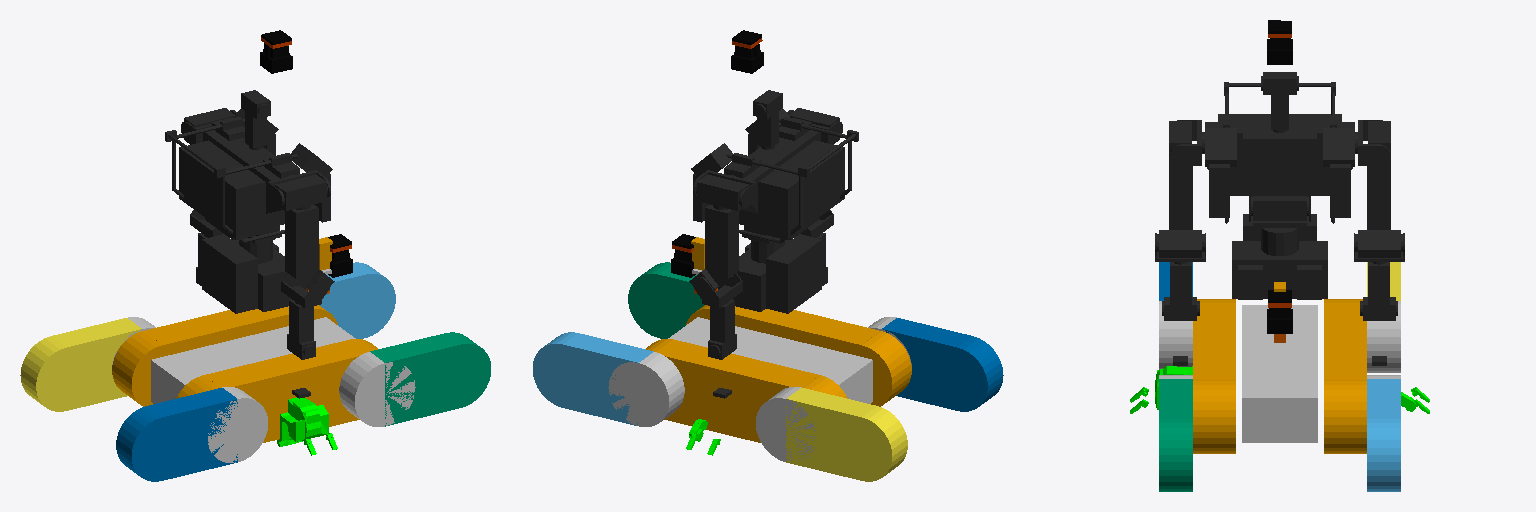
--- Render facts (derived) ---
Views: 3 orthographic renders of the robot side by side, from view 1: azimuth 30°, elevation 25°; view 2: azimuth 150°, elevation 25°; view 3: azimuth 270°, elevation 25°.
Robot: centaur — 49 links, 48 joints (28 revolute, 1 continuous, 19 fixed); root link base_link; default pose: every joint at zero.
Visible links, largest first — view 1: base_link, utorso, right_rear_flipper_base_link, right_front_flipper_base_link, left_rear_flipper_base_link, pelvis, left_front_flipper_base_link, r_arm_shoulder_yaw, r_palm, r_arm_wrist_yaw, neck_link, r_arm_shoulder_roll (+4 smaller); view 2: base_link, utorso, left_rear_flipper_base_link, left_front_flipper_base_link, right_rear_flipper_base_link, pelvis, right_front_flipper_base_link, l_arm_shoulder_yaw, l_arm_wrist_yaw, neck_link, l_arm_shoulder_roll, head_link_hokuyo_laser_frame (+3 smaller); view 3: base_link, utorso, pelvis, left_front_flipper_base_link, right_front_flipper_base_link, l_arm_shoulder_yaw, r_arm_shoulder_yaw, left_rear_flipper_base_link, right_rear_flipper_base_link, waist, l_arm_wrist_yaw, r_arm_wrist_yaw (+7 smaller).
Boxes of the visible links, <box> form: base_link: <box>112,305,377,442</box>; utorso: <box>165,108,332,242</box>; right_rear_flipper_base_link: <box>116,387,267,481</box>; right_front_flipper_base_link: <box>339,332,490,426</box>; left_rear_flipper_base_link: <box>20,317,155,411</box>; pelvis: <box>202,234,305,313</box>; left_front_flipper_base_link: <box>320,262,395,338</box>; r_arm_shoulder_yaw: <box>285,205,334,290</box>; r_palm: <box>277,397,328,446</box>; r_arm_wrist_yaw: <box>287,299,315,359</box>; neck_link: <box>241,90,270,149</box>; r_arm_shoulder_roll: <box>275,174,327,210</box>; base_link: <box>646,305,911,442</box>; utorso: <box>691,108,858,242</box>; left_rear_flipper_base_link: <box>756,387,907,481</box>; left_front_flipper_base_link: <box>533,332,684,426</box>; right_rear_flipper_base_link: <box>868,317,1003,411</box>; pelvis: <box>718,234,821,313</box>; right_front_flipper_base_link: <box>628,262,703,338</box>; l_arm_shoulder_yaw: <box>689,205,738,290</box>; l_arm_wrist_yaw: <box>708,299,736,359</box>; neck_link: <box>753,90,782,149</box>; l_arm_shoulder_roll: <box>696,174,748,210</box>; head_link_hokuyo_laser_frame: <box>731,30,763,73</box>; base_link: <box>1193,299,1366,453</box>; utorso: <box>1205,82,1354,223</box>; pelvis: <box>1232,214,1327,299</box>; left_front_flipper_base_link: <box>1367,375,1400,491</box>; right_front_flipper_base_link: <box>1159,375,1192,491</box>; l_arm_shoulder_yaw: <box>1355,164,1402,257</box>; r_arm_shoulder_yaw: <box>1157,164,1204,257</box>; left_rear_flipper_base_link: <box>1367,262,1400,372</box>; right_rear_flipper_base_link: <box>1159,262,1192,369</box>; waist: <box>1251,196,1308,227</box>; l_arm_wrist_yaw: <box>1360,262,1397,320</box>; r_arm_wrist_yaw: <box>1162,262,1199,320</box>.
Size in the robot's own frame: 1.07 by 0.7096 by 1.06 metres.
Meshes: 24 distinct files referenced, 22 mesh visuals loaded (15 binary STL, 1 Collada DAE); not drawn: 10 (reference not matched to a file when rendering).

URDF robot description (centaur):
<?xml version="1.0" ?>
<!-- =================================================================================== -->
<!-- |    This document was autogenerated by xacro from [local-path]/hammering_test/src/hector_centaur/hector_centaur_description/robots/centaur_default.urdf.xacro | -->
<!-- |    EDITING THIS FILE BY HAND IS NOT RECOMMENDED                                 | -->
<!-- =================================================================================== -->
<robot name="centaur" xmlns:xacro="http://www.ros.org/wiki/xacro">
  <!-- Included URDF Files -->
  <!-- Included URDF Files -->
  <!-- Properties (Constants) -->
  <!--<xacro:property name="wheel_radius" value="0.185" />-->
  <!--<xacro:property name="wheel_size_y" value="0.0824" />-->
  <!-- half of wheel width + half of socket width + gap -->
  <!-- wheel_radius - socket height -->
  <!-- Properties (Constants) -->
  <!--    <xacro:property name="wheel_offset_y" value="${(total_width - wheel_size_y) / 2}" />-->
  <!--
  Note macros below are exact copies of each with expection of the
  visual/collision tags.
  -->
  <!-- Links and Joints (i.e., the robot) -->
  <link name="base_link">
    <inertial>
      <origin rpy="0 0 0" xyz="0 0.0 0.0"/>
      <mass value="40"/>
      <inertia ixx="0.154413333333" ixy="0.0" ixz="0.0" iyy="0.947746666667" iyz="0.0" izz="1.00933333333"/>
    </inertial>
    <visual>
      <origin rpy="0 0 0" xyz="0.0 0.0 0.0"/>
      <geometry>
        <box size="0.52 0.18 0.118"/>
      </geometry>
      <geometry>
        <box size="0.52 0.18 0.118"/>
      </geometry>
      <material name="Grey">
        <color rgba="0.8 0.8 0.8 1"/>
      </material>
    </visual>
    <visual>
      <origin rpy="1.57079632679 0 0" xyz="0.218 0.155 -0.006"/>
      <geometry>
        <cylinder length="0.1" radius="0.09"/>
      </geometry>
    </visual>
    <visual>
      <origin rpy="1.57079632679 0 0" xyz="-0.218 0.155 -0.006"/>
      <geometry>
        <cylinder length="0.1" radius="0.09"/>
      </geometry>
    </visual>
    <visual>
      <origin rpy="0 0 0" xyz="0.0 0.155 -0.006"/>
      <geometry>
        <box size="0.43 0.1 0.18"/>
      </geometry>
    </visual>
    <visual>
      <origin rpy="1.57079632679 0 0" xyz="0.218 -0.155 -0.006"/>
      <geometry>
        <cylinder length="0.1" radius="0.09"/>
      </geometry>
    </visual>
    <visual>
      <origin rpy="1.57079632679 0 0" xyz="-0.218 -0.155 -0.006"/>
      <geometry>
        <cylinder length="0.1" radius="0.09"/>
      </geometry>
    </visual>
    <visual>
      <origin rpy="0 0 0" xyz="0.0 -0.155 -0.006"/>
      <geometry>
        <box size="0.43 0.1 0.18"/>
      </geometry>
    </visual>
    <collision>
      <origin rpy="0 0 0" xyz="0.0 0.0 0.0"/>
      <geometry>
        <box size="0.52 0.18 0.118"/>
      </geometry>
      <geometry>
        <box size="0.52 0.18 0.118"/>
      </geometry>
    </collision>
    <collision>
      <origin rpy="1.57079632679 0 0" xyz="0.218 0.155 -0.006"/>
      <geometry>
        <cylinder length="0.1" radius="0.09"/>
      </geometry>
    </collision>
    <collision>
      <origin rpy="1.57079632679 0 0" xyz="-0.218 0.155 -0.006"/>
      <geometry>
        <cylinder length="0.1" radius="0.09"/>
      </geometry>
    </collision>
    <collision>
      <origin rpy="0 0 0" xyz="0.0 0.155 -0.006"/>
      <geometry>
        <box size="0.43 0.1 0.18"/>
      </geometry>
    </collision>
    <collision>
      <origin rpy="1.57079632679 0 0" xyz="0.218 -0.155 -0.006"/>
      <geometry>
        <cylinder length="0.1" radius="0.09"/>
      </geometry>
    </collision>
    <collision>
      <origin rpy="1.57079632679 0 0" xyz="-0.218 -0.155 -0.006"/>
      <geometry>
        <cylinder length="0.1" radius="0.09"/>
      </geometry>
    </collision>
    <collision>
      <origin rpy="0 0 0" xyz="0.0 -0.155 -0.006"/>
      <geometry>
        <box size="0.43 0.1 0.18"/>
      </geometry>
    </collision>
  </link>
  <!--
  Note macros below are exact copies of each with expection of the
  visual/collision tags.
  -->
  <!-- use for 2*2 flippers -->
  <!-- front is either 1 (for front flipper) or -1 (for back flipper) -->
  <!-- <joint name="${parent}_${name}_flipper_joint" type="fixed">   -->
  <joint name="front_flipper_joint" type="revolute">
    <origin rpy="0 0 0" xyz="0.218  0.245  0 "/>
    <axis xyz="0 1 0"/>
    <limit effort="20000" lower="-1.57079632679" upper="1.57079632679" velocity="1.91986217719"/>
    <parent link="base_link"/>
    <child link="left_front_flipper_base_link"/>
  </joint>
  <link name="left_front_flipper_base_link">
    <origin rpy="0 0 0" xyz="0 0 0"/>
    <inertial>
      <origin rpy="0 0 0" xyz="0.1125 0 0"/>
      <mass value="3"/>
      <inertia ixx="0.0097" ixy="0.0" ixz="0.0" iyy="0.02075625" iyz="0.0" izz="0.01425625"/>
    </inertial>
    <visual>
      <material name="Grey">
        <color rgba="0.8 0.8 0.8 1"/>
      </material>
      <origin rpy="1.57079632679 0 0" xyz="0 0 0"/>
      <geometry>
        <cylinder length="0.08" radius="0.09"/>
      </geometry>
    </visual>
    <visual>
      <origin rpy="1.57079632679 0 0" xyz="0.225 0 0"/>
      <geometry>
        <cylinder length="0.08" radius="0.09"/>
      </geometry>
    </visual>
    <visual>
      <origin rpy="0 0 0" xyz="0.1125 0 0"/>
      <geometry>
        <box size="0.225 0.08 0.18"/>
      </geometry>
    </visual>
    <collision>
      <origin rpy="1.57079632679 0 0" xyz="0 0 0"/>
      <geometry>
        <cylinder length="0.08" radius="0.09"/>
      </geometry>
    </collision>
    <collision>
      <origin rpy="1.57079632679 0 0" xyz="0.225 0 0"/>
      <geometry>
        <cylinder length="0.08" radius="0.09"/>
      </geometry>
    </collision>
    <collision>
      <origin rpy="0 0 0" xyz="0.1125 0 0"/>
      <geometry>
        <box size="0.225 0.08 0.18"/>
      </geometry>
    </collision>
  </link>
  <joint name="right_front_flipper_joint" type="fixed">
    <origin rpy="0 0 0" xyz="0 -0.49 0"/>
    <parent link="left_front_flipper_base_link"/>
    <child link="right_front_flipper_base_link"/>
  </joint>
  <link name="right_front_flipper_base_link">
    <origin rpy="0 0 0" xyz="0 0 0"/>
    <inertial>
      <origin rpy="0 0 0" xyz="0.1125 0 0"/>
      <mass value="3"/>
      <inertia ixx="0.0097" ixy="0.0" ixz="0.0" iyy="0.02075625" iyz="0.0" izz="0.01425625"/>
    </inertial>
    <visual>
      <material name="Grey">
        <color rgba="0.8 0.8 0.8 1"/>
      </material>
      <origin rpy="1.57079632679 0 0" xyz="0 0 0"/>
      <geometry>
        <cylinder length="0.08" radius="0.09"/>
      </geometry>
    </visual>
    <visual>
      <origin rpy="1.57079632679 0 0" xyz="0.225 0 0"/>
      <geometry>
        <cylinder length="0.08" radius="0.09"/>
      </geometry>
    </visual>
    <visual>
      <origin rpy="0 0 0" xyz="0.1125 0 0"/>
      <geometry>
        <box size="0.225 0.08 0.18"/>
      </geometry>
    </visual>
    <collision>
      <origin rpy="1.57079632679 0 0" xyz="0 0 0"/>
      <geometry>
        <cylinder length="0.08" radius="0.09"/>
      </geometry>
    </collision>
    <collision>
      <origin rpy="1.57079632679 0 0" xyz="0.225 0 0"/>
      <geometry>
        <cylinder length="0.08" radius="0.09"/>
      </geometry>
    </collision>
    <collision>
      <origin rpy="0 0 0" xyz="0.1125 0 0"/>
      <geometry>
        <box size="0.225 0.08 0.18"/>
      </geometry>
    </collision>
  </link>
  <!--Needed for gazebo-->
  <transmission name="front_flipper_joint_transmission">
    <type>transmission_interface/SimpleTransmission</type>
    <joint name="front_flipper_joint">
      <hardwareInterface>EffortJointInterface</hardwareInterface>
    </joint>
    <actuator name="front_flipper_joint_motor">
      <hardwareInterface>EffortJointInterface</hardwareInterface>
      <mechanicalReduction>1</mechanicalReduction>
    </actuator>
  </transmission>
  <gazebo reference="front_left_flipper_base_link">
    <!--<material>Gazebo/Grey</material>-->
    <mu1>0</mu1>
    <mu2>0</mu2>
    <kp>1000000.0</kp>
    <kd>100.0</kd>
    <minDepth>0.001</minDepth>
    <maxVel>1.0</maxVel>
    <maxContacts>1</maxContacts>
  </gazebo>
  <gazebo reference="front_right_flipper_base_link">
    <!--<material>Gazebo/Grey</material>-->
    <mu1>0</mu1>
    <mu2>0</mu2>
    <kp>1000000.0</kp>
    <kd>100.0</kd>
    <minDepth>0.001</minDepth>
    <maxVel>1.0</maxVel>
    <maxContacts>1</maxContacts>
  </gazebo>
  <!-- front is either 1 (for front flipper) or -1 (for back flipper) -->
  <!-- <joint name="${parent}_${name}_flipper_joint" type="fixed">   -->
  <joint name="rear_flipper_joint" type="revolute">
    <origin rpy="0 0 0" xyz="-0.218  0.245  0  "/>
    <axis xyz="0 1 0"/>
    <limit effort="20000" lower="-1.57079632679" upper="1.57079632679" velocity="1.91986217719"/>
    <parent link="base_link"/>
    <child link="left_rear_flipper_base_link"/>
  </joint>
  <link name="left_rear_flipper_base_link">
    <origin rpy="0 0 0" xyz="0 0 0"/>
    <inertial>
      <origin rpy="0 0 0" xyz="-0.1125 0 0"/>
      <mass value="3"/>
      <inertia ixx="0.0097" ixy="0.0" ixz="0.0" iyy="0.02075625" iyz="0.0" izz="0.01425625"/>
    </inertial>
    <visual>
      <material name="Grey">
        <color rgba="0.8 0.8 0.8 1"/>
      </material>
      <origin rpy="1.57079632679 0 0" xyz="0 0 0"/>
      <geometry>
        <cylinder length="0.08" radius="0.09"/>
      </geometry>
    </visual>
    <visual>
      <origin rpy="1.57079632679 0 0" xyz="-0.225 0 0"/>
      <geometry>
        <cylinder length="0.08" radius="0.09"/>
      </geometry>
    </visual>
    <visual>
      <origin rpy="0 0 0" xyz="-0.1125 0 0"/>
      <geometry>
        <box size="0.225 0.08 0.18"/>
      </geometry>
    </visual>
    <collision>
      <origin rpy="1.57079632679 0 0" xyz="0 0 0"/>
      <geometry>
        <cylinder length="0.08" radius="0.09"/>
      </geometry>
    </collision>
    <collision>
      <origin rpy="1.57079632679 0 0" xyz="-0.225 0 0"/>
      <geometry>
        <cylinder length="0.08" radius="0.09"/>
      </geometry>
    </collision>
    <collision>
      <origin rpy="0 0 0" xyz="-0.1125 0 0"/>
      <geometry>
        <box size="0.225 0.08 0.18"/>
      </geometry>
    </collision>
  </link>
  <joint name="right_rear_flipper_joint" type="fixed">
    <origin rpy="0 0 0" xyz="0 -0.49 0"/>
    <parent link="left_rear_flipper_base_link"/>
    <child link="right_rear_flipper_base_link"/>
  </joint>
  <link name="right_rear_flipper_base_link">
    <origin rpy="0 0 0" xyz="0 0 0"/>
    <inertial>
      <origin rpy="0 0 0" xyz="-0.1125 0 0"/>
      <mass value="3"/>
      <inertia ixx="0.0097" ixy="0.0" ixz="0.0" iyy="0.02075625" iyz="0.0" izz="0.01425625"/>
    </inertial>
    <visual>
      <material name="Grey">
        <color rgba="0.8 0.8 0.8 1"/>
      </material>
      <origin rpy="1.57079632679 0 0" xyz="0 0 0"/>
      <geometry>
        <cylinder length="0.08" radius="0.09"/>
      </geometry>
    </visual>
    <visual>
      <origin rpy="1.57079632679 0 0" xyz="-0.225 0 0"/>
      <geometry>
        <cylinder length="0.08" radius="0.09"/>
      </geometry>
    </visual>
    <visual>
      <origin rpy="0 0 0" xyz="-0.1125 0 0"/>
      <geometry>
        <box size="0.225 0.08 0.18"/>
      </geometry>
    </visual>
    <collision>
      <origin rpy="1.57079632679 0 0" xyz="0 0 0"/>
      <geometry>
        <cylinder length="0.08" radius="0.09"/>
      </geometry>
    </collision>
    <collision>
      <origin rpy="1.57079632679 0 0" xyz="-0.225 0 0"/>
      <geometry>
        <cylinder length="0.08" radius="0.09"/>
      </geometry>
    </collision>
    <collision>
      <origin rpy="0 0 0" xyz="-0.1125 0 0"/>
      <geometry>
        <box size="0.225 0.08 0.18"/>
      </geometry>
    </collision>
  </link>
  <!--Needed for gazebo-->
  <transmission name="rear_flipper_joint_transmission">
    <type>transmission_interface/SimpleTransmission</type>
    <joint name="rear_flipper_joint">
      <hardwareInterface>EffortJointInterface</hardwareInterface>
    </joint>
    <actuator name="rear_flipper_joint_motor">
      <hardwareInterface>EffortJointInterface</hardwareInterface>
      <mechanicalReduction>1</mechanicalReduction>
    </actuator>
  </transmission>
  <gazebo reference="rear_left_flipper_base_link">
    <!--<material>Gazebo/Grey</material>-->
    <mu1>0</mu1>
    <mu2>0</mu2>
    <kp>1000000.0</kp>
    <kd>100.0</kd>
    <minDepth>0.001</minDepth>
    <maxVel>1.0</maxVel>
    <maxContacts>1</maxContacts>
  </gazebo>
  <gazebo reference="rear_right_flipper_base_link">
    <!--<material>Gazebo/Grey</material>-->
    <mu1>0</mu1>
    <mu2>0</mu2>
    <kp>1000000.0</kp>
    <kd>100.0</kd>
    <minDepth>0.001</minDepth>
    <maxVel>1.0</maxVel>
    <maxContacts>1</maxContacts>
  </gazebo>
  <gazebo reference="base_link">
    <!--<material>Gazebo/White</material>-->
    <mu1>0.0</mu1>
    <mu2>0.0</mu2>
    <kp>1000000.0</kp>
    <kd>100.0</kd>
    <minDepth>0.001</minDepth>
    <maxVel>1.0</maxVel>
  </gazebo>
  <gazebo>
    <plugin filename="libgazebo_ros_force_based_move.so" name="force_based_move_controller">
      <commandTopic>/cmd_vel_raw</commandTopic>
      <odometryTopic>odom_raw</odometryTopic>
      <odometryFrame>odom</odometryFrame>
      <odometryRate>20.0</odometryRate>
      <robotBaseFrame>base_link</robotBaseFrame>
      <publishOdometryTf>0</publishOdometryTf>
      <yaw_velocity_p_gain>4000.0</yaw_velocity_p_gain>
      <x_velocity_p_gain>10000.0</x_velocity_p_gain>
      <y_velocity_p_gain>10000.0</y_velocity_p_gain>
    </plugin>
    <!-- ros_control plugin -->
    <!-- <plugin filename="libgazebo_ros_control.so" name="gazebo_ros_control">
      <robotNamespace>obelix_robot</robotNamespace>
    </plugin> -->
    <plugin filename="libgazebo_ros_p3d.so" name="p3d_base_controller">
      <alwaysOn>true</alwaysOn>
      <updateRate>50.0</updateRate>
      <bodyName>base_link</bodyName>
      <topicName>ground_truth/state</topicName>
      <gaussianNoise>0.01</gaussianNoise>
      <frameName>world</frameName>
      <xyzOffsets>0 0 0</xyzOffsets>
      <rpyOffsets>0 0 0</rpyOffsets>
    </plugin>
    <plugin filename="libhector_gazebo_ros_imu.so" name="imu_controller">
      <alwaysOn>true</alwaysOn>
      <updateRate>50.0</updateRate>
      <bodyName>base_link</bodyName>
      <topicName>imu_quat</topicName>
      <accelDrift>0.0 0.0 0.0</accelDrift>
      <accelGaussianNoise>0.1 0.1 0.1</accelGaussianNoise>
      <rateDrift>0.0 0.0 0.0</rateDrift>
      <rateGaussianNoise>0.05 0.05 0.05</rateGaussianNoise>
      <headingDrift>0.0</headingDrift>
      <headingGaussianNoise>0.05</headingGaussianNoise>
    </plugin>
  </gazebo>
  <joint name="base_to_pelvis_joint" type="fixed">
    <origin rpy="0 0 0" xyz="0.0 0 0.3"/>
    <!--rpy="0.000329950722368627 -3.91151844547536E-19 1.16573417585641E-15"-->
    <parent link="base_link"/>
    <child link="pelvis"/>
    <!--
    <axis
      xyz="0 0 1" />
    <xacro:joint_medium_servo_limits_macro lower="${-1.8}" upper="${1.3}"/>
    -->
  </joint>
  <!-- unit conversions -->
  <!-- inventor sometimes gives ridiculous units -->
  <!-- such conversion factors make description easier to read -->
  <!-- colors -->
  <!-- colors -->
  <!--<xacro:include filename="$(find thor_mang_description)/urdf/thor_mang_simple_mesh_visual_geoms.urdf.xacro.xml" />    -->
  <!-- unit conversions -->
  <!-- inventor sometimes gives ridiculous units -->
  <!-- such conversion factors make description easier to read -->
  <!-- colors -->
  <!-- colors -->
  <!-- unit conversions -->
  <!-- inventor sometimes gives ridiculous units -->
  <!-- such conversion factors make description easier to read -->
  <!-- colors -->
  <!-- colors -->
  <!--<xacro:include filename="$(find thor_mang_description)/urdf/thor_mang_mesh_collision_geoms.urdf.xacro.xml" />    -->
  <!-- unit conversions -->
  <!-- inventor sometimes gives ridiculous units -->
  <!-- such conversion factors make description easier to read -->
  <!-- colors -->
  <!-- colors -->
  <!--<xacro:include filename="$(find thor_mang_description)/urdf/joint_params.xacro" />-->
  <!-- Increased effort limit by x10 for gazebo -->
  <!--Indices starting at 0 from torso-->
  <!--<xacro:include filename="$(find thor_mang_description)/urdf/joint_params.xacro" />-->
  <!--Indices starting at 0 from pelvis -->
  <!--Note pelvis origin is 7.92 cm below COM-->
  <!--<xacro:include filename="$(find thor_mang_description)/urdf/joint_params.xacro" />-->
  <!--<xacro:include filename="$(find thor_mang_description)/urdf/joint_params.xacro" />-->
  <!-- Increased effort limit by x10 for gazebo -->
  <!--Indices starting at 0 from torso-->
  <!--<xacro:include filename="$(find thor_mang_description)/urdf/joint_params.xacro" />-->
  <!-- Increased effort limit by x10 for gazebo -->
  <!--Indices starting at 0 from torso-->
  <!--  
  <macro name="thor_arm_7dof_simple_macro" params="parent name reflect *origin">
    <thor_arm_7dof_simple_with_offsets_macro parent="${parent}" name="${name}" reflect="${reflect}" j1_offset="-1.4" j2_offset="${M_PI*0.5}" j3_offset="-0.6" j4_offset="0.0" j5_offset="0.0">
      <insert_block name="origin"/>
    </thor_arm_7dof_simple_with_offsets_macro>
  </macro>
  -->
  <!--<xacro:include filename="$(find thor_mang_description)/urdf/joint_params.xacro" />-->
  <!-- Increased effort limit by x10 for gazebo -->
  <!--
     The asus_camera_model macro only adds the model, it does not also add
     the openni gazebo plugin. See the 'asus_camera' macro below for that
    -->
  <!--
     The asus_camera macro only adds the model, and also adds
     the openni gazebo plugin.
    -->
  <!--<xacro:include filename="$(find thor_mang_description)/urdf/joint_params.xacro" />-->
  <!-- Increased effort limit by x10 for gazebo -->
  <!--Indices starting at 0 from torso-->
  <!--  
  <macro name="thor_arm_7dof_simple_macro" params="parent name reflect *origin">
    <thor_arm_7dof_simple_with_offsets_macro parent="${parent}" name="${name}" reflect="${reflect}" j1_offset="-1.4" j2_offset="${M_PI*0.5}" j3_offset="-0.6" j4_offset="0.0" j5_offset="0.0">
      <insert_block name="origin"/>
    </thor_arm_7dof_simple_with_offsets_macro>
  </macro>
  -->
  <!--<xacro:include filename="$(find thor_mang_description)/robots/offsets/thor_mang_tud_joint_offsets.urdf.xacro.xml" /-->
  &gt;
  
  <!--  <macro name="thor_mang_tud_simple_macro">-->
  <link name="pelvis">
    <inertial>
      <origin rpy="0 0 0" xyz="-0.0264 0.0 0.0162"/>
      <mass value="8.2"/>
      <inertia ixx="0.0341666666667" ixy="0.0" ixz="0.0" iyy="0.0341666666667" iyz="0.0" izz="0.0546666666667"/>
    </inertial>
    <visual>
      <origin rpy=" 1.57079632679 0 1.57079632679" xyz="0 0 0"/>
      <geometry>
        <mesh filename="package://centaur/meshes/pelvis.stl" scale="0.001 0.001 0.001"/>
      </geometry>
      <material name="blue">
        <color rgba="0.2 0.2 0.2 1"/>
      </material>
    </visual>
    <collision>
      <origin rpy="0 0 0" xyz="-0.01 0 0.025"/>
      <geometry>
        <box size="0.23 0.23 0.24"/>
      </geometry>
    </collision>
  </link>
  <joint name="waist_pan" type="revolute">
    <origin rpy="0 0 0" xyz="0.0 0 0.137"/>
    <!--rpy="0.000329950722368627 -3.91151844547536E-19 1.16573417585641E-15"-->
    <parent link="pelvis"/>
    <child link="waist"/>
    <axis xyz="0 0 1"/>
    <limit effort="210.142" lower="-1.8" upper="1.3" velocity="2.5"/>
    <dynamics damping="0.1" friction="0"/>
  </joint>
  <link name="waist">
    <!--    
    <xacro:inertial_sphere_with_pose_macro mass="0.1" diameter="0.05">
      <origin xyz="0.0 0.0 0.0" rpy="0 0 0"/>
    </xacro:inertial_sphere_with_pose_macro>
    -->
    <inertial>
      <origin rpy="0 0 0" xyz="0.0 0.0 0.0"/>
      <mass value="0.8"/>
      <inertia ixx="0.0012" ixy="0.0" ixz="0.0" iyy="0.00048" iyz="0.0" izz="0.0012"/>
    </inertial>
    <visual>
      <origin rpy=" 1.57079632679 0 1.57079632679" xyz="0 0 -0.039"/>
      <geometry>
        <mesh filename="package://centaur/meshes/waist.stl" scale="0.001 0.001 0.001"/>
      </geometry>
      <material name="blue">
        <color rgba="0.2 0.2 0.2 1"/>
      </material>
    </visual>
    <collision>
      <origin rpy="0 0 0" xyz="0.024 0 0"/>
      <geometry>
        <box size="0.03 0.08 0.03"/>
      </geometry>
    </collision>
  </link>
  <joint name="waist_tilt" type="revolute">
    <origin rpy="0 0 0" xyz="0 0 0.0"/>
    <!--rpy="0.000329950722368627 -3.91151844547536E-19 1.16573417585641E-15"-->
    <parent link="waist"/>
    <child link="utorso"/>
    <axis xyz="0 1 0"/>
    <limit effort="390.131" lower="-0.05" upper="1.07" velocity="2.5"/>
    <dynamics damping="0.1" friction="0"/>
  </joint>
  <link name="utorso">
    <inertial>
      <origin rpy="0 0 0" xyz="-0.0264 0.0 0.155"/>
      <mass value="10.91"/>
      <inertia ixx="0.118191666667" ixy="0.0" ixz="0.0" iyy="0.0931895833333" iyz="0.0" izz="0.138647916667"/>
    </inertial>
    <visual>
      <origin rpy=" 1.57079632679 0 1.57079632679" xyz="-0.0 0 0.159"/>
      <geometry>
        <mesh filename="package://centaur/meshes/chest.stl" scale="0.001 0.001 0.001"/>
      </geometry>
      <material name="blue">
        <color rgba="0.2 0.2 0.2 1"/>
      </material>
    </visual>
    <collision>
      <origin rpy="0 0 0" xyz="-0.075 0 0.11"/>
      <geometry>
        <box size="0.24 0.31 0.24"/>
      </geometry>
    </collision>
    <collision>
      <origin rpy="0 0 0" xyz="0.1 0.13 0.12"/>
      <geometry>
        <cylinder length="0.23" radius="0.04"/>
      </geometry>
    </collision>
    <collision>
      <origin rpy="0 0 0" xyz="0.1 -0.13 0.12"/>
      <geometry>
        <cylinder length="0.23" radius="0.04"/>
      </geometry>
    </collision>
  </link>
  <!--Transmissions for gazebo ros control-->
  <transmission name="waist_pan_transmssion">
    <type>transmission_interface/SimpleTransmission</type>
    <joint name="waist_pan">
      <hardwareInterface>EffortJointInterface</hardwareInterface>
    </joint>
    <actuator name="waist_pan_motor">
      <hardwareInterface>EffortJointInterface</hardwareInterface>
      <mechanicalReduction>1</mechanicalReduction>
    </actuator>
  </transmission>
  <gazebo reference="waist_pan">
    <implicitSpringDamper>1</implicitSpringDamper>
  </gazebo>
  <transmission name="waist_tilt_transmssion">
    <type>transmission_interface/SimpleTransmission</type>
    <joint name="waist_tilt">
      <hardwareInterface>EffortJointInterface</hardwareInterface>
    </joint>
    <actuator name="waist_tilt_motor">
      <hardwareInterface>EffortJointInterface</hardwareInterface>
      <mechanicalReduction>1</mechanicalReduction>
    </actuator>
  </transmission>
  <gazebo reference="waist_tilt">
    <implicitSpringDamper>1</implicitSpringDamper>
  </gazebo>
  <!--Coloring for Gazebo-->
  <!--    <gazebo reference="${link_name}">
      <material>Gazebo/White</material>
    </gazebo>-->
  <!--    <gazebo reference="${link_name}">
      <material>Gazebo/White</material>
    </gazebo>-->
  <!--    <gazebo reference="${link_name}">
      <material>Gazebo/White</material>
    </gazebo>-->
  <gazebo>
    <plugin filename="libhector_gazebo_ros_imu.so" name="pelvis_imu_controller">
      <alwaysOn>true</alwaysOn>
      <updateRate>125.0</updateRate>
      <bodyName>pelvis</bodyName>
      <topicName>/thor_mang/pelvis_imu</topicName>
      <accelDrift>0.0 0.0 0.0</accelDrift>
      <accelGaussianNoise>0.1 0.1 0.1</accelGaussianNoise>
      <rateDrift>0.0 0.0 0.0</rateDrift>
      <rateGaussianNoise>0.05 0.05 0.05</rateGaussianNoise>
      <headingDrift>0.0</headingDrift>
      <headingGaussianNoise>0.05</headingGaussianNoise>
    </plugin>
  </gazebo>
  <!--  
  <thor_mang_leg_macro parent="pelvis" name="l" reflect="1" leg_joint3_limit_lower="${-M_PI*0.15}" leg_joint3_limit_upper="${M_PI}">
    <origin xyz="0.0 0.072 -0.145" rpy="0 0 0"/>
  </thor_mang_leg_macro>
  
  <thor_mang_leg_macro parent="pelvis" name="r" reflect="-1" leg_joint3_limit_lower="${-M_PI}" leg_joint3_limit_upper="${M_PI*0.15}">
    <origin xyz="0.0 -0.072 -0.145" rpy="0 0 0"/>
  </thor_mang_leg_macro>
  
  <thor_poking_stick_macro parent="utorso">    
    <origin xyz="0.185 0.130 0.224" rpy="0 ${0 + l_arm_j0_offset} 0"/>
  </thor_poking_stick_macro>
  -->
  <!-- lower3 -M_PI  upper3 M_PI*0.1 -->
  <!-- limit_6 could be -M_PI*1.3 -->
  <joint name="l_shoulder_pitch" type="revolute">
    <origin rpy="0 0.0 0" xyz="0.0 0.234 0.165"/>
    <parent link="utorso"/>
    <child link="l_arm_shoulder_pitch"/>
    <axis xyz="0 1 0"/>
    <limit effort="390.131" lower="-3.14159265359" upper="2.3" velocity="2.5"/>
    <dynamics damping="0.1" friction="0"/>
  </joint>
  <link name="l_arm_shoulder_pitch">
    <!--    
    <xacro:inertial_sphere_with_pose_macro mass="0.3" diameter="0.03">
      <origin xyz="0.0 ${reflect*(arm_link_0_y_offset+0.05)} -0.0" rpy="0 0 0"/>
    </xacro:inertial_sphere_with_pose_macro>
    -->
    <inertial>
      <origin rpy="0 0 0" xyz="0.0 0.0 -0.0"/>
      <mass value="0.3"/>
      <inertia ixx="0.00018" ixy="0.0" ixz="0.0" iyy="0.00045" iyz="0.0" izz="0.00045"/>
    </inertial>
    <visual>
      <origin rpy=" 3.14159265359 1.57079632679 0" xyz="0 -0.051 0"/>
      <geometry>
        <mesh filename="package://centaur/meshes/shoulder_pitch_left.stl" scale="0.001 0.001 0.001"/>
      </geometry>
      <material name="blue">
        <color rgba="0.2 0.2 0.2 1"/>
      </material>
    </visual>
    <collision>
      <origin rpy="0 0 0" xyz="0 -0.01 0"/>
      <geometry>
        <box size="0.16 0.085 0.06"/>
      </geometry>
    </collision>
  </link>
  <joint name="l_shoulder_roll" type="revolute">
    <origin rpy="0.0 0 0" xyz="0.0 0.0 0"/>
    <parent link="l_arm_shoulder_pitch"/>
    <child link="l_arm_shoulder_roll"/>
    <axis xyz="-1 0 0"/>
    <limit effort="390.131" lower="-3.14159265359" upper="0.05" velocity="2.5"/>
    <dynamics damping="0.1" friction="0"/>
  </joint>
  <link name="l_arm_shoulder_roll">
    <!--      
    <xacro:inertial_sphere_with_pose_macro mass="0.3" diameter="0.03">
      <origin xyz="0.0 0.0 -0.0" rpy="0 0 0"/>
    </xacro:inertial_sphere_with_pose_macro>
    -->
    <inertial>
      <origin rpy="0 0 0" xyz="0.0 0.0 -0.0"/>
      <mass value="0.6"/>
      <inertia ixx="0.00036" ixy="0.0" ixz="0.0" iyy="0.0009" iyz="0.0" izz="0.0009"/>
    </inertial>
    <visual>
      <origin rpy=" 1.57079632679 0 -1.57079632679" xyz="0.024 0 0"/>
      <geometry>
        <mesh filename="package://centaur/meshes/shoulder_roll_left.stl" scale="0.001 0.001 0.001"/>
      </geometry>
      <material name="blue">
        <color rgba="0.2 0.2 0.2 1"/>
      </material>
    </visual>
    <collision>
      <origin rpy="0 0 0" xyz="0 0 0"/>
      <geometry>
        <box size="0.16 0.06 0.06"/>
      </geometry>
    </collision>
  </link>
  <joint name="l_shoulder_yaw" type="revolute">
    <origin rpy="0 0 0.0" xyz="0 0 0"/>
    <!--rpy="0.000329950722368627 -3.91151844547536E-19 1.16573417585641E-15"-->
    <parent link="l_arm_shoulder_roll"/>
    <child link="l_arm_shoulder_yaw"/>
    <axis xyz="0 0 -1"/>
    <limit effort="390.131" lower="-1.57079632679" upper="3.14159265359" velocity="2.5"/>
    <dynamics damping="0.1" friction="0"/>
  </joint>
  <link name="l_arm_shoulder_yaw">
    <!--
    <xacro:inertial_sphere_with_pose_macro mass="2.89" diameter="0.15">
      <origin xyz="0.0 0.0 ${-0.102+arm_link_2_z_offset}" rpy="0 0 0"/>
    </xacro:inertial_sphere_with_pose_macro>
    -->
    <inertial>
      <origin rpy="0 0 0" xyz="0.0 0.0 -0.129"/>
      <mass value="2.89"/>
      <inertia ixx="0.0115638533333" ixy="0.0" ixz="0.0" iyy="0.0115638533333" iyz="0.0" izz="0.00308266666667"/>
    </inertial>
    <visual>
      <origin rpy=" 1.57079632679 0 -1.57079632679" xyz="0 0 -0.027"/>
      <geometry>
        <mesh filename="package://centaur/meshes/shoulder_yaw_left.stl" scale="0.001 0.001 0.001"/>
      </geometry>
      <material name="blue">
        <color rgba="0.2 0.2 0.2 1"/>
      </material>
    </visual>
    <collision>
      <origin rpy=" 0 0 0" xyz="0 0 -0.129"/>
      <geometry>
        <box size="0.08 0.08 0.204"/>
      </geometry>
    </collision>
    <collision>
      <origin rpy=" 0 0.785398163397 0" xyz="0.03 0 -0.246"/>
      <geometry>
        <box size="0.06 0.13 0.06"/>
      </geometry>
    </collision>
  </link>
  <joint name="l_elbow" type="revolute">
    <origin rpy="0 0.0 0" xyz="0.03 0 -0.246"/>
    <!--rpy="0.000329950722368627 -3.91151844547536E-19 1.16573417585641E-15"-->
    <parent link="l_arm_shoulder_yaw"/>
    <child link="l_arm_elbow"/>
    <axis xyz="0 1 0"/>
    <limit effort="210.142" lower="-2.9" upper="0.6" velocity="2.5"/>
    <dynamics damping="0.1" friction="0"/>
  </joint>
  <link name="l_arm_elbow">
    <!--    
    <xacro:inertial_sphere_with_pose_macro mass="0.13" diameter="0.05">
      
    </xacro:inertial_sphere_with_pose_macro>
    -->
    <inertial>
      <origin rpy="0 0 0" xyz="0.0 0.0 -0.0"/>
      <mass value="0.13"/>
      <inertia ixx="0.000313083333333" ixy="0.0" ixz="0.0" iyy="0.000108333333333" iyz="0.0" izz="0.00028275"/>
    </inertial>
    <visual>
      <origin rpy=" 1.57079632679 0 -1.57079632679" xyz="-0.03 0 0"/>
      <geometry>
        <mesh filename="package://centaur/meshes/elbow_left_mod.stl" scale="0.001 0.001 0.001"/>
      </geometry>
      <material name="blue">
        <color rgba="0.2 0.2 0.2 1"/>
      </material>
    </visual>
    <collision>
      <origin rpy=" 0 0 0" xyz="-0.03 0 -0.02"/>
      <geometry>
        <box size="0.06 0.13 0.08"/>
      </geometry>
    </collision>
  </link>
  <joint name="l_wrist_yaw1" type="revolute">
    <origin rpy="0 0 1.57079632679" xyz="-0.030 0 -0.18600"/>
    <!--rpy="0.000329950722368627 -3.91151844547536E-19 1.16573417585641E-15"-->
    <parent link="l_arm_elbow"/>
    <child link="l_arm_wrist_yaw"/>
    <axis xyz="0 0 -1"/>
    <limit effort="50.596" lower="-3.14159265359" upper="4.71" velocity="1.4"/>
    <dynamics damping="0.1" friction="0"/>
  </joint>
  <link name="l_arm_wrist_yaw">
    <!--    
    <xacro:inertial_sphere_with_pose_macro mass="0.81" diameter="0.05">
      <origin xyz="0.0 0.0 -0.0" rpy="0 0 0"/>
    </xacro:inertial_sphere_with_pose_macro>
    -->
    <inertial>
      <origin rpy="0 0 0" xyz="0.0 0.0 0.05"/>
      <mass value="0.81"/>
      <inertia ixx="0.000918" ixy="0.0" ixz="0.0" iyy="0.000918" iyz="0.0" izz="0.000486"/>
    </inertial>
    <visual>
      <origin rpy=" 1.57079632679 0 -1.57079632679" xyz="0 0 0"/>
      <geometry>
        <mesh filename="package://centaur/meshes/wrist_yaw_left_mod.stl" scale="0.001 0.001 0.001"/>
      </geometry>
      <material name="blue">
        <color rgba="0.2 0.2 0.2 1"/>
      </material>
    </visual>
    <collision>
      <origin rpy="0 0 0" xyz="0 0 0"/>
      <geometry>
        <box size="0.1 0.06 0.06"/>
      </geometry>
    </collision>
    <collision>
      <origin rpy=" 0 0 0" xyz="0 0 0.07"/>
      <geometry>
        <box size="0.06 0.06 0.10"/>
      </geometry>
    </collision>
  </link>
  <joint name="l_wrist_roll" type="revolute">
    <origin rpy="0.0 0 0" xyz="0 0 0"/>
    <!--rpy="0.000329950722368627 -3.91151844547536E-19 1.16573417585641E-15"-->
    <parent link="l_arm_wrist_yaw"/>
    <child link="l_arm_wrist_roll"/>
    <axis xyz="1 0 0"/>
    <limit effort="50.596" lower="-1.47" upper="1.47" velocity="1.4"/>
    <dynamics damping="0.1" friction="0"/>
  </joint>
  <link name="l_arm_wrist_roll">
    <!--
    <xacro:inertial_sphere_with_pose_macro mass="0.27" diameter="0.03">
      <origin xyz="0.0 0.0 -0.03" rpy="0 0 0"/>
    </xacro:inertial_sphere_with_pose_macro>
    -->
    <inertial>
      <origin rpy="0 0 0" xyz="0.0 0.0 -0.07"/>
      <mass value="0.27"/>
      <inertia ixx="0.000306" ixy="0.0" ixz="0.0" iyy="0.000306" iyz="0.0" izz="0.000162"/>
    </inertial>
    <visual>
      <origin rpy=" 1.57079632679 0 -1.57079632679" xyz="0 0 0"/>
      <geometry>
        <mesh filename="package://centaur/meshes/wrist_roll_left_mod.stl" scale="-0.001 0.001 0.001"/>
      </geometry>
      <material name="blue">
        <color rgba="0.2 0.2 0.2 1"/>
      </material>
    </visual>
    <collision>
      <origin rpy="0 0 0" xyz="0 0 0"/>
      <geometry>
        <box size="0.1 0.06 0.06"/>
      </geometry>
    </collision>
    <collision>
      <origin rpy=" 0 0 0" xyz="0 0 -0.08"/>
      <geometry>
        <box size="0.06 0.06 0.10"/>
      </geometry>
    </collision>
  </link>
  <joint name="l_wrist_yaw2" type="revolute">
    <origin rpy="0 0 0.0" xyz="0 0 0"/>
    <!--rpy="0.000329950722368627 -3.91151844547536E-19 1.16573417585641E-15"-->
    <parent link="l_arm_wrist_roll"/>
    <child link="l_hand"/>
    <axis xyz="0 0 -1"/>
    <limit effort="50.596" lower="-2.54" upper="0.9" velocity="1.4"/>
    <dynamics damping="0.1" friction="0"/>
  </joint>
  <link name="l_hand">
    <!--
    <xacro:inertial_sphere_with_pose_macro mass="0.81" diameter="0.05">
      <origin xyz="0.0 0.0 -0.0" rpy="0 0 0"/>
    </xacro:inertial_sphere_with_pose_macro>
    -->
    <inertial>
      <origin rpy="0 0 0" xyz="0.0 0.0 -0.135"/>
      <mass value="0.13"/>
      <inertia ixx="1.43541666667e-05" ixy="0.0" ixz="0.0" iyy="1.43541666667e-05" iyz="0.0" izz="2.65416666667e-05"/>
    </inertial>
    <visual>
      <origin rpy=" 0 0 0" xyz="0 0 -0.135"/>
      <geometry>
        <box size="0.035 .035 .01"/>
        <!--<mesh
          filename="package://centaur/meshes/wrist_yaw_left.stl" scale="0.001 0.001 0.001"/>-->
      </geometry>
      <material name="blue">
        <color rgba="0.2 0.2 0.2 1"/>
      </material>
    </visual>
    <collision>
      <origin rpy=" 0 0 0" xyz="0 0 -0.135"/>
      <geometry>
        <box size="0.035 .035 .01"/>
        <!--<mesh
          filename="package://centaur/meshes/wrist_yaw_left.stl" scale="0.001 0.001 0.001"/>-->
      </geometry>
    </collision>
  </link>
  <!--    <joint name="${name}_hand_joint" type="fixed">
    <origin
      xyz="0 0 -0.135"
      rpy="0 0 0"/>
    <parent
      link="${name}_arm_wrist_yaw2" />
    <child
      link="${name}_hand" />

  </joint>
  
  <link name="${name}_hand">
  </link>
  -->
  <!--Transmissions for gazebo ros control-->
  <transmission name="l_shoulder_pitch_transmssion">
    <type>transmission_interface/SimpleTransmission</type>
    <joint name="l_shoulder_pitch">
      <hardwareInterface>EffortJointInterface</hardwareInterface>
    </joint>
    <actuator name="l_shoulder_pitch_motor">
      <hardwareInterface>EffortJointInterface</hardwareInterface>
      <mechanicalReduction>1</mechanicalReduction>
    </actuator>
  </transmission>
  <gazebo reference="l_shoulder_pitch">
    <implicitSpringDamper>1</implicitSpringDamper>
  </gazebo>
  <transmission name="l_shoulder_roll_transmssion">
    <type>transmission_interface/SimpleTransmission</type>
    <joint name="l_shoulder_roll">
      <hardwareInterface>EffortJointInterface</hardwareInterface>
    </joint>
    <actuator name="l_shoulder_roll_motor">
      <hardwareInterface>EffortJointInterface</hardwareInterface>
      <mechanicalReduction>1</mechanicalReduction>
    </actuator>
  </transmission>
  <gazebo reference="l_shoulder_roll">
    <implicitSpringDamper>1</implicitSpringDamper>
  </gazebo>
  <transmission name="l_shoulder_yaw_transmssion">
    <type>transmission_interface/SimpleTransmission</type>
    <joint name="l_shoulder_yaw">
      <hardwareInterface>EffortJointInterface</hardwareInterface>
    </joint>
    <actuator name="l_shoulder_yaw_motor">
      <hardwareInterface>EffortJointInterface</hardwareInterface>
      <mechanicalReduction>1</mechanicalReduction>
    </actuator>
  </transmission>
  <gazebo reference="l_shoulder_yaw">
    <implicitSpringDamper>1</implicitSpringDamper>
  </gazebo>
  <transmission name="l_elbow_transmssion">
    <type>transmission_interface/SimpleTransmission</type>
    <joint name="l_elbow">
      <hardwareInterface>EffortJointInterface</hardwareInterface>
    </joint>
    <actuator name="l_elbow_motor">
      <hardwareInterface>EffortJointInterface</hardwareInterface>
      <mechanicalReduction>1</mechanicalReduction>
    </actuator>
  </transmission>
  <gazebo reference="l_elbow">
    <implicitSpringDamper>1</implicitSpringDamper>
  </gazebo>
  <transmission name="l_wrist_yaw1_transmssion">
    <type>transmission_interface/SimpleTransmission</type>
    <joint name="l_wrist_yaw1">
      <hardwareInterface>EffortJointInterface</hardwareInterface>
    </joint>
    <actuator name="l_wrist_yaw1_motor">
      <hardwareInterface>EffortJointInterface</hardwareInterface>
      <mechanicalReduction>1</mechanicalReduction>
    </actuator>
  </transmission>
  <gazebo reference="l_wrist_yaw1">
    <implicitSpringDamper>1</implicitSpringDamper>
  </gazebo>
  <transmission name="l_wrist_roll_transmssion">
    <type>transmission_interface/SimpleTransmission</type>
    <joint name="l_wrist_roll">
      <hardwareInterface>EffortJointInterface</hardwareInterface>
    </joint>
    <actuator name="l_wrist_roll_motor">
      <hardwareInterface>EffortJointInterface</hardwareInterface>
      <mechanicalReduction>1</mechanicalReduction>
    </actuator>
  </transmission>
  <gazebo reference="l_wrist_roll">
    <implicitSpringDamper>1</implicitSpringDamper>
  </gazebo>
  <transmission name="l_wrist_yaw2_transmssion">
    <type>transmission_interface/SimpleTransmission</type>
    <joint name="l_wrist_yaw2">
      <hardwareInterface>EffortJointInterface</hardwareInterface>
    </joint>
    <actuator name="l_wrist_yaw2_motor">
      <hardwareInterface>EffortJointInterface</hardwareInterface>
      <mechanicalReduction>1</mechanicalReduction>
    </actuator>
  </transmission>
  <gazebo reference="l_wrist_yaw2">
    <implicitSpringDamper>1</implicitSpringDamper>
  </gazebo>
  <!--Coloring for Gazebo-->
  <!--    <gazebo reference="${link_name}">
      <material>Gazebo/White</material>
    </gazebo>-->
  <!--    <gazebo reference="${link_name}">
      <material>Gazebo/White</material>
    </gazebo>-->
  <!--    <gazebo reference="${link_name}">
      <material>Gazebo/White</material>
    </gazebo>-->
  <!--    <gazebo reference="${link_name}">
      <material>Gazebo/White</material>
    </gazebo>-->
  <!--    <gazebo reference="${link_name}">
      <material>Gazebo/White</material>
    </gazebo>-->
  <!--    <gazebo reference="${link_name}">
      <material>Gazebo/White</material>
    </gazebo>-->
  <joint name="r_shoulder_pitch" type="revolute">
    <origin rpy="0 0.0 0" xyz="0.0 -0.234 0.165"/>
    <parent link="utorso"/>
    <child link="r_arm_shoulder_pitch"/>
    <axis xyz="0 -1 0"/>
    <limit effort="390.131" lower="-2.3" upper="3.14159265359" velocity="2.5"/>
    <dynamics damping="0.1" friction="0"/>
  </joint>
  <link name="r_arm_shoulder_pitch">
    <!--    
    <xacro:inertial_sphere_with_pose_macro mass="0.3" diameter="0.03">
      <origin xyz="0.0 ${reflect*(arm_link_0_y_offset+0.05)} -0.0" rpy="0 0 0"/>
    </xacro:inertial_sphere_with_pose_macro>
    -->
    <inertial>
      <origin rpy="0 0 0" xyz="0.0 0.0 -0.0"/>
      <mass value="0.3"/>
      <inertia ixx="0.00018" ixy="0.0" ixz="0.0" iyy="0.00045" iyz="0.0" izz="0.00045"/>
    </inertial>
    <visual>
      <origin rpy=" 3.14159265359 1.57079632679 0" xyz="0 0.051 0"/>
      <geometry>
        <mesh filename="package://centaur/meshes/shoulder_pitch_left.stl" scale="0.001 -0.001 0.001"/>
      </geometry>
      <material name="blue">
        <color rgba="0.2 0.2 0.2 1"/>
      </material>
    </visual>
    <collision>
      <origin rpy="0 0 0" xyz="0 0.01 0"/>
      <geometry>
        <box size="0.16 0.085 0.06"/>
      </geometry>
    </collision>
  </link>
  <joint name="r_shoulder_roll" type="revolute">
    <origin rpy="0.0 0 0" xyz="0.0 0.0 0"/>
    <parent link="r_arm_shoulder_pitch"/>
    <child link="r_arm_shoulder_roll"/>
    <axis xyz="-1 0 0"/>
    <limit effort="390.131" lower="-0.05" upper="3.14159265359" velocity="2.5"/>
    <dynamics damping="0.1" friction="0"/>
  </joint>
  <link name="r_arm_shoulder_roll">
    <!--      
    <xacro:inertial_sphere_with_pose_macro mass="0.3" diameter="0.03">
      <origin xyz="0.0 0.0 -0.0" rpy="0 0 0"/>
    </xacro:inertial_sphere_with_pose_macro>
    -->
    <inertial>
      <origin rpy="0 0 0" xyz="0.0 0.0 -0.0"/>
      <mass value="0.6"/>
      <inertia ixx="0.00036" ixy="0.0" ixz="0.0" iyy="0.0009" iyz="0.0" izz="0.0009"/>
    </inertial>
    <visual>
      <origin rpy=" 1.57079632679 0 -1.57079632679" xyz="0.024 0 0"/>
      <geometry>
        <mesh filename="package://centaur/meshes/shoulder_roll_left.stl" scale="0.001 0.001 0.001"/>
      </geometry>
      <material name="blue">
        <color rgba="0.2 0.2 0.2 1"/>
      </material>
    </visual>
    <collision>
      <origin rpy="0 0 0" xyz="0 0 0"/>
      <geometry>
        <box size="0.16 0.06 0.06"/>
      </geometry>
    </collision>
  </link>
  <joint name="r_shoulder_yaw" type="revolute">
    <origin rpy="0 0 0.0" xyz="0 0 0"/>
    <!--rpy="0.000329950722368627 -3.91151844547536E-19 1.16573417585641E-15"-->
    <parent link="r_arm_shoulder_roll"/>
    <child link="r_arm_shoulder_yaw"/>
    <axis xyz="0 0 -1"/>
    <limit effort="390.131" lower="-3.14159265359" upper="1.57079632679" velocity="2.5"/>
    <dynamics damping="0.1" friction="0"/>
  </joint>
  <link name="r_arm_shoulder_yaw">
    <!--
    <xacro:inertial_sphere_with_pose_macro mass="2.89" diameter="0.15">
      <origin xyz="0.0 0.0 ${-0.102+arm_link_2_z_offset}" rpy="0 0 0"/>
    </xacro:inertial_sphere_with_pose_macro>
    -->
    <inertial>
      <origin rpy="0 0 0" xyz="0.0 0.0 -0.129"/>
      <mass value="2.89"/>
      <inertia ixx="0.0115638533333" ixy="0.0" ixz="0.0" iyy="0.0115638533333" iyz="0.0" izz="0.00308266666667"/>
    </inertial>
    <visual>
      <origin rpy=" 1.57079632679 0 -1.57079632679" xyz="0 0 -0.027"/>
      <geometry>
        <mesh filename="package://centaur/meshes/shoulder_yaw_left.stl" scale="0.001 0.001 0.001"/>
      </geometry>
      <material name="blue">
        <color rgba="0.2 0.2 0.2 1"/>
      </material>
    </visual>
    <collision>
      <origin rpy=" 0 0 0" xyz="0 0 -0.129"/>
      <geometry>
        <box size="0.08 0.08 0.204"/>
      </geometry>
    </collision>
    <collision>
      <origin rpy=" 0 0.785398163397 0" xyz="0.03 0 -0.246"/>
      <geometry>
        <box size="0.06 0.13 0.06"/>
      </geometry>
    </collision>
  </link>
  <joint name="r_elbow" type="revolute">
    <origin rpy="0 0.0 0" xyz="0.03 0 -0.246"/>
    <!--rpy="0.000329950722368627 -3.91151844547536E-19 1.16573417585641E-15"-->
    <parent link="r_arm_shoulder_yaw"/>
    <child link="r_arm_elbow"/>
    <axis xyz="0 -1 0"/>
    <limit effort="210.142" lower="-0.6" upper="2.9" velocity="2.5"/>
    <dynamics damping="0.1" friction="0"/>
  </joint>
  <link name="r_arm_elbow">
    <!--    
    <xacro:inertial_sphere_with_pose_macro mass="0.13" diameter="0.05">
      
    </xacro:inertial_sphere_with_pose_macro>
    -->
    <inertial>
      <origin rpy="0 0 0" xyz="0.0 0.0 -0.0"/>
      <mass value="0.13"/>
      <inertia ixx="0.000313083333333" ixy="0.0" ixz="0.0" iyy="0.000108333333333" iyz="0.0" izz="0.00028275"/>
    </inertial>
    <visual>
      <origin rpy=" 1.57079632679 0 -1.57079632679" xyz="-0.03 0 0"/>
      <geometry>
        <mesh filename="package://centaur/meshes/elbow_left_mod.stl" scale="0.001 0.001 0.001"/>
      </geometry>
      <material name="blue">
        <color rgba="0.2 0.2 0.2 1"/>
      </material>
    </visual>
    <collision>
      <origin rpy=" 0 0 0" xyz="-0.03 0 -0.02"/>
      <geometry>
        <box size="0.06 0.13 0.08"/>
      </geometry>
    </collision>
  </link>
  <joint name="r_wrist_yaw1" type="revolute">
    <origin rpy="0 0 -1.57079632679" xyz="-0.030 0 -0.18600"/>
    <!--rpy="0.000329950722368627 -3.91151844547536E-19 1.16573417585641E-15"-->
    <parent link="r_arm_elbow"/>
    <child link="r_arm_wrist_yaw"/>
    <axis xyz="0 0 -1"/>
    <limit effort="50.596" lower="-4.71" upper="3.14159265359" velocity="1.4"/>
    <dynamics damping="0.1" friction="0"/>
  </joint>
  <link name="r_arm_wrist_yaw">
    <!--    
    <xacro:inertial_sphere_with_pose_macro mass="0.81" diameter="0.05">
      <origin xyz="0.0 0.0 -0.0" rpy="0 0 0"/>
    </xacro:inertial_sphere_with_pose_macro>
    -->
    <inertial>
      <origin rpy="0 0 0" xyz="0.0 0.0 0.05"/>
      <mass value="0.81"/>
      <inertia ixx="0.000918" ixy="0.0" ixz="0.0" iyy="0.000918" iyz="0.0" izz="0.000486"/>
    </inertial>
    <visual>
      <origin rpy=" 1.57079632679 0 -1.57079632679" xyz="0 0 0"/>
      <geometry>
        <mesh filename="package://centaur/meshes/wrist_yaw_left_mod.stl" scale="0.001 0.001 0.001"/>
      </geometry>
      <material name="blue">
        <color rgba="0.2 0.2 0.2 1"/>
      </material>
    </visual>
    <collision>
      <origin rpy="0 0 0" xyz="0 0 0"/>
      <geometry>
        <box size="0.1 0.06 0.06"/>
      </geometry>
    </collision>
    <collision>
      <origin rpy=" 0 0 0" xyz="0 0 0.07"/>
      <geometry>
        <box size="0.06 0.06 0.10"/>
      </geometry>
    </collision>
  </link>
  <joint name="r_wrist_roll" type="revolute">
    <origin rpy="0.0 0 0" xyz="0 0 0"/>
    <!--rpy="0.000329950722368627 -3.91151844547536E-19 1.16573417585641E-15"-->
    <parent link="r_arm_wrist_yaw"/>
    <child link="r_arm_wrist_roll"/>
    <axis xyz="1 0 0"/>
    <limit effort="50.596" lower="-1.47" upper="1.47" velocity="1.4"/>
    <dynamics damping="0.1" friction="0"/>
  </joint>
  <link name="r_arm_wrist_roll">
    <!--
    <xacro:inertial_sphere_with_pose_macro mass="0.27" diameter="0.03">
      <origin xyz="0.0 0.0 -0.03" rpy="0 0 0"/>
    </xacro:inertial_sphere_with_pose_macro>
    -->
    <inertial>
      <origin rpy="0 0 0" xyz="0.0 0.0 -0.07"/>
      <mass value="0.27"/>
      <inertia ixx="0.000306" ixy="0.0" ixz="0.0" iyy="0.000306" iyz="0.0" izz="0.000162"/>
    </inertial>
    <visual>
      <origin rpy=" 1.57079632679 0 -1.57079632679" xyz="0 0 0"/>
      <geometry>
        <mesh filename="package://centaur/meshes/wrist_roll_left_mod.stl" scale="0.001 0.001 0.001"/>
      </geometry>
      <material name="blue">
        <color rgba="0.2 0.2 0.2 1"/>
      </material>
    </visual>
    <collision>
      <origin rpy="0 0 0" xyz="0 0 0"/>
      <geometry>
        <box size="0.1 0.06 0.06"/>
      </geometry>
    </collision>
    <collision>
      <origin rpy=" 0 0 0" xyz="0 0 -0.08"/>
      <geometry>
        <box size="0.06 0.06 0.10"/>
      </geometry>
    </collision>
  </link>
  <joint name="r_wrist_yaw2" type="revolute">
    <origin rpy="0 0 0.0" xyz="0 0 0"/>
    <!--rpy="0.000329950722368627 -3.91151844547536E-19 1.16573417585641E-15"-->
    <parent link="r_arm_wrist_roll"/>
    <child link="r_hand"/>
    <axis xyz="0 0 -1"/>
    <limit effort="50.596" lower="-0.9" upper="2.54" velocity="1.4"/>
    <dynamics damping="0.1" friction="0"/>
  </joint>
  <link name="r_hand">
    <!--
    <xacro:inertial_sphere_with_pose_macro mass="0.81" diameter="0.05">
      <origin xyz="0.0 0.0 -0.0" rpy="0 0 0"/>
    </xacro:inertial_sphere_with_pose_macro>
    -->
    <inertial>
      <origin rpy="0 0 0" xyz="0.0 0.0 -0.135"/>
      <mass value="0.13"/>
      <inertia ixx="1.43541666667e-05" ixy="0.0" ixz="0.0" iyy="1.43541666667e-05" iyz="0.0" izz="2.65416666667e-05"/>
    </inertial>
    <visual>
      <origin rpy=" 0 0 0" xyz="0 0 -0.135"/>
      <geometry>
        <box size="0.035 .035 .01"/>
        <!--<mesh
          filename="package://centaur/meshes/wrist_yaw_left.stl" scale="0.001 0.001 0.001"/>-->
      </geometry>
      <material name="blue">
        <color rgba="0.2 0.2 0.2 1"/>
      </material>
    </visual>
    <collision>
      <origin rpy=" 0 0 0" xyz="0 0 -0.135"/>
      <geometry>
        <box size="0.035 .035 .01"/>
        <!--<mesh
          filename="package://centaur/meshes/wrist_yaw_left.stl" scale="0.001 0.001 0.001"/>-->
      </geometry>
    </collision>
  </link>
  <!--    <joint name="${name}_hand_joint" type="fixed">
    <origin
      xyz="0 0 -0.135"
      rpy="0 0 0"/>
    <parent
      link="${name}_arm_wrist_yaw2" />
    <child
      link="${name}_hand" />

  </joint>
  
  <link name="${name}_hand">
  </link>
  -->
  <!--Transmissions for gazebo ros control-->
  <transmission name="r_shoulder_pitch_transmssion">
    <type>transmission_interface/SimpleTransmission</type>
    <joint name="r_shoulder_pitch">
      <hardwareInterface>EffortJointInterface</hardwareInterface>
    </joint>
    <actuator name="r_shoulder_pitch_motor">
      <hardwareInterface>EffortJointInterface</hardwareInterface>
      <mechanicalReduction>1</mechanicalReduction>
    </actuator>
  </transmission>
  <gazebo reference="r_shoulder_pitch">
    <implicitSpringDamper>1</implicitSpringDamper>
  </gazebo>
  <transmission name="r_shoulder_roll_transmssion">
    <type>transmission_interface/SimpleTransmission</type>
    <joint name="r_shoulder_roll">
      <hardwareInterface>EffortJointInterface</hardwareInterface>
    </joint>
    <actuator name="r_shoulder_roll_motor">
      <hardwareInterface>EffortJointInterface</hardwareInterface>
      <mechanicalReduction>1</mechanicalReduction>
    </actuator>
  </transmission>
  <gazebo reference="r_shoulder_roll">
    <implicitSpringDamper>1</implicitSpringDamper>
  </gazebo>
  <transmission name="r_shoulder_yaw_transmssion">
    <type>transmission_interface/SimpleTransmission</type>
    <joint name="r_shoulder_yaw">
      <hardwareInterface>EffortJointInterface</hardwareInterface>
    </joint>
    <actuator name="r_shoulder_yaw_motor">
      <hardwareInterface>EffortJointInterface</hardwareInterface>
      <mechanicalReduction>1</mechanicalReduction>
    </actuator>
  </transmission>
  <gazebo reference="r_shoulder_yaw">
    <implicitSpringDamper>1</implicitSpringDamper>
  </gazebo>
  <transmission name="r_elbow_transmssion">
    <type>transmission_interface/SimpleTransmission</type>
    <joint name="r_elbow">
      <hardwareInterface>EffortJointInterface</hardwareInterface>
    </joint>
    <actuator name="r_elbow_motor">
      <hardwareInterface>EffortJointInterface</hardwareInterface>
      <mechanicalReduction>1</mechanicalReduction>
    </actuator>
  </transmission>
  <gazebo reference="r_elbow">
    <implicitSpringDamper>1</implicitSpringDamper>
  </gazebo>
  <transmission name="r_wrist_yaw1_transmssion">
    <type>transmission_interface/SimpleTransmission</type>
    <joint name="r_wrist_yaw1">
      <hardwareInterface>EffortJointInterface</hardwareInterface>
    </joint>
    <actuator name="r_wrist_yaw1_motor">
      <hardwareInterface>EffortJointInterface</hardwareInterface>
      <mechanicalReduction>1</mechanicalReduction>
    </actuator>
  </transmission>
  <gazebo reference="r_wrist_yaw1">
    <implicitSpringDamper>1</implicitSpringDamper>
  </gazebo>
  <transmission name="r_wrist_roll_transmssion">
    <type>transmission_interface/SimpleTransmission</type>
    <joint name="r_wrist_roll">
      <hardwareInterface>EffortJointInterface</hardwareInterface>
    </joint>
    <actuator name="r_wrist_roll_motor">
      <hardwareInterface>EffortJointInterface</hardwareInterface>
      <mechanicalReduction>1</mechanicalReduction>
    </actuator>
  </transmission>
  <gazebo reference="r_wrist_roll">
    <implicitSpringDamper>1</implicitSpringDamper>
  </gazebo>
  <transmission name="r_wrist_yaw2_transmssion">
    <type>transmission_interface/SimpleTransmission</type>
    <joint name="r_wrist_yaw2">
      <hardwareInterface>EffortJointInterface</hardwareInterface>
    </joint>
    <actuator name="r_wrist_yaw2_motor">
      <hardwareInterface>EffortJointInterface</hardwareInterface>
      <mechanicalReduction>1</mechanicalReduction>
    </actuator>
  </transmission>
  <gazebo reference="r_wrist_yaw2">
    <implicitSpringDamper>1</implicitSpringDamper>
  </gazebo>
  <!--Coloring for Gazebo-->
  <!--    <gazebo reference="${link_name}">
      <material>Gazebo/White</material>
    </gazebo>-->
  <!--    <gazebo reference="${link_name}">
      <material>Gazebo/White</material>
    </gazebo>-->
  <!--    <gazebo reference="${link_name}">
      <material>Gazebo/White</material>
    </gazebo>-->
  <!--    <gazebo reference="${link_name}">
      <material>Gazebo/White</material>
    </gazebo>-->
  <!--    <gazebo reference="${link_name}">
      <material>Gazebo/White</material>
    </gazebo>-->
  <!--    <gazebo reference="${link_name}">
      <material>Gazebo/White</material>
    </gazebo>-->
  <joint name="head_pan" type="revolute">
    <origin rpy="0 0.0 0" xyz="0.0 0.0 0.320"/>
    <parent link="utorso"/>
    <child link="neck_link"/>
    <axis xyz="0 0 1"/>
    <limit effort="50.596" lower="-1.57079632679" upper="2.45" velocity="1.4"/>
    <dynamics damping="0.1" friction="0"/>
  </joint>
  <link name="neck_link">
    <inertial>
      <origin rpy="0 0 0" xyz="0.0 0.0 0.0"/>
      <mass value="0.1"/>
      <inertia ixx="9e-06" ixy="0.0" ixz="0.0" iyy="9e-06" iyz="0.0" izz="9e-06"/>
    </inertial>
    <visual>
      <origin rpy=" 1.57079632679 0 -1.57079632679" xyz="0 0 -0.111"/>
      <geometry>
        <mesh filename="package://centaur/meshes/neck.stl" scale="0.001 0.001 0.001"/>
      </geometry>
      <material name="blue">
        <color rgba="0.2 0.2 0.2 1"/>
      </material>
    </visual>
    <collision>
      <origin rpy="0 0 0" xyz="0 0 -0.05"/>
      <geometry>
        <box size="0.045 0.045 0.15"/>
      </geometry>
    </collision>
  </link>
  <gazebo reference="neck_link">
    <audio_sink/>
  </gazebo>
  <joint name="head_tilt" type="revolute">
    <origin rpy="0 0.0 0" xyz="0 0 0"/>
    <parent link="neck_link"/>
    <child link="head_link"/>
    <axis xyz="0 1 0"/>
    <limit effort="50.596" lower="-1.32" upper="0.79" velocity="1.4"/>
    <dynamics damping="0.1" friction="0"/>
  </joint>
  <!--Transmissions for gazebo ros control-->
  <transmission name="head_pan_transmssion">
    <type>transmission_interface/SimpleTransmission</type>
    <joint name="head_pan">
      <hardwareInterface>EffortJointInterface</hardwareInterface>
    </joint>
    <actuator name="head_pan_motor">
      <hardwareInterface>EffortJointInterface</hardwareInterface>
      <mechanicalReduction>1</mechanicalReduction>
    </actuator>
  </transmission>
  <gazebo reference="head_pan">
    <implicitSpringDamper>1</implicitSpringDamper>
  </gazebo>
  <transmission name="head_tilt_transmssion">
    <type>transmission_interface/SimpleTransmission</type>
    <joint name="head_tilt">
      <hardwareInterface>EffortJointInterface</hardwareInterface>
    </joint>
    <actuator name="head_tilt_motor">
      <hardwareInterface>EffortJointInterface</hardwareInterface>
      <mechanicalReduction>1</mechanicalReduction>
    </actuator>
  </transmission>
  <gazebo reference="head_tilt">
    <implicitSpringDamper>1</implicitSpringDamper>
  </gazebo>
  <!--Coloring for Gazebo-->
  <!--    <gazebo reference="${link_name}">
      <material>Gazebo/White</material>
    </gazebo>-->
  <link name="head_link">
    <inertial>
      <mass value="0.8"/>
      <inertia ixx="0.0025" ixy="0.0" ixz="0.0001" iyy="0.0013" iyz="0.0" izz="0.0026"/>
    </inertial>
    <collision name="collision">
      <origin rpy="1.57079632679 0.0 1.57079632679" xyz="0.0 0.0 -0.006"/>
      <geometry>
        <mesh filename="package://centaur/meshes/multisensor_head_collision.stl" scale="0.001 0.001 0.001"/>
      </geometry>
    </collision>
    <visual>
      <origin rpy="1.57079632679 0.0 1.57079632679" xyz="0.0 0.0 -0.006"/>
      <geometry>
        <mesh filename="package://centaur/meshes/multisensor_head.stl" scale="0.001 0.001 0.001"/>
      </geometry>
    </visual>
  </link>
  <joint name="head_lidar_spinning_joint" type="continuous">
    <origin rpy="0 0 0" xyz="0.061 0.0 0.134"/>
    <parent link="head_link"/>
    <child link="head_lidar_mount_link"/>
    <axis rpy="0 0 0" xyz="1 0 0"/>
    <limit effort="1000" velocity="100"/>
    <joint_properties damping="500.0" friction="200.0"/>
  </joint>
  <link name="head_lidar_mount_link">
    <inertial>
      <origin rpy="0 0 0" xyz="0.0 0.0 0.0"/>
      <mass value="0.1"/>
      <inertia ixx="9e-06" ixy="0.0" ixz="0.0" iyy="9e-06" iyz="0.0" izz="9e-06"/>
    </inertial>
  </link>
  <joint name="head_link_hokuyo_laser_joint" type="fixed">
    <origin rpy="0.0 0.021197 -0.00357142" xyz="0.0 0.000323461 0.0127965"/>
    <parent link="head_lidar_mount_link"/>
    <child link="head_link_hokuyo_laser_frame"/>
  </joint>
  <link name="head_link_hokuyo_laser_frame">
    <inertial>
      <mass value="0.270"/>
      <origin rpy="0 0 0" xyz="0 0 0"/>
      <inertia ixx="2.632e-4" ixy="0" ixz="0" iyy="2.632e-4" iyz="0" izz="1.62e-4"/>
    </inertial>
    <visual>
      <origin rpy="0 0 0" xyz="0 0 0"/>
      <geometry>
        <mesh filename="package://centaur/meshes/hokuyo_utm_30lx.dae"/>
      </geometry>
    </visual>
    <collision>
      <origin rpy="0 0 0" xyz="0 0 -0.0115"/>
      <geometry>
        <box size="0.058 0.058 0.087"/>
        <!--<mesh filename="package://centaur/meshes/hokuyo_utm_30lx.stl"/>-->
      </geometry>
    </collision>
  </link>
  <gazebo reference="head_link_hokuyo_laser_frame">
    <sensor name="head_link_hokuyo_laser" type="ray">
      <always_on>true</always_on>
      <update_rate>40</update_rate>
      <pose>0 0 0 0 0 0</pose>
      <visualize>false</visualize>
      <ray>
        <scan>
          <horizontal>
            <samples>1040</samples>
            <resolution>1</resolution>
            <min_angle>2.26892802759</min_angle>
            <max_angle>-2.26892802759</max_angle>
          </horizontal>
        </scan>
        <range>
          <min>0.2</min>
          <max>30.0</max>
          <resolution>0.01</resolution>
        </range>
        <noise>
          <type>gaussian</type>
          <mean>0.0</mean>
          <stddev>0.004</stddev>
        </noise>
      </ray>
      <plugin filename="libgazebo_ros_laser.so" name="gazebo_ros_head_link_hokuyo_laser_controller">
        <topicName>/head_lidar/scan</topicName>
        <frameName>head_link_hokuyo_laser_frame</frameName>
      </plugin>
    </sensor>
  </gazebo>
  <transmission name="head_lidar_spinning_joint_transmission">
    <type>transmission_interface/SimpleTransmission</type>
    <joint name="head_lidar_spinning_joint">
      <hardwareInterface>EffortJointInterface</hardwareInterface>
    </joint>
    <actuator name="head_lidar_spinning_joint_motor">
      <hardwareInterface>EffortJointInterface</hardwareInterface>
      <mechanicalReduction>1</mechanicalReduction>
    </actuator>
  </transmission>
  <gazebo reference="head_lidar_spinning_joint">
    <implicitSpringDamper>1</implicitSpringDamper>
  </gazebo>
  <joint name="head_cam_joint" type="fixed">
    <origin rpy="0 0 0" xyz="0.065 0.0 0.23"/>
    <parent link="head_link"/>
    <child link="head_cam_link"/>
  </joint>
  <link name="head_cam_link">
    <inertial>
      <mass value="0.200"/>
      <origin rpy="0 0 0" xyz="0 0 0"/>
      <inertia ixx="5.8083e-4" ixy="0" ixz="0" iyy="3.0833e-5" iyz="0" izz="5.9083e-4"/>
    </inertial>
    <visual>
      <origin rpy="0 0 0" xyz="0 0 0"/>
      <geometry>
        <mesh filename="package://centaur/meshes/asus_camera_simple.dae"/>
      </geometry>
    </visual>
    <!--        
       <collision>
          <origin xyz="0 0 0" rpy="0 0 0" />
          <geometry>
            <box size="0.035 0.185 0.025"/>
          </geometry>
        </collision>
        -->
    <collision>
      <origin rpy="0 0 0" xyz="0 0 0"/>
      <geometry>
        <mesh filename="package://centaur/meshes/asus_camera_simple.dae"/>
      </geometry>
    </collision>
  </link>
  <joint name="head_cam_depth_joint" type="fixed">
    <origin rpy="0 0 0" xyz="0.0 0.049 0.0"/>
    <parent link="head_cam_link"/>
    <child link="head_cam_depth_frame"/>
  </joint>
  <link name="head_cam_depth_frame"/>
  <joint name="head_cam_depth_optical_joint" type="fixed">
    <origin rpy="-1.57079632679 0.0 -1.57079632679" xyz="0 0 0"/>
    <parent link="head_cam_depth_frame"/>
    <child link="head_cam_depth_optical_frame"/>
  </joint>
  <link name="head_cam_depth_optical_frame"/>
  <joint name="head_cam_rgb_joint" type="fixed">
    <origin rpy="0 0 0" xyz="0.0 0.022 0.0"/>
    <parent link="head_cam_link"/>
    <child link="head_cam_rgb_frame"/>
  </joint>
  <link name="head_cam_rgb_frame"/>
  <joint name="head_cam_rgb_optical_joint" type="fixed">
    <origin rpy="-1.57079632679 0.0 -1.57079632679" xyz="0 0 0"/>
    <parent link="head_cam_rgb_frame"/>
    <child link="head_cam_rgb_optical_frame"/>
  </joint>
  <link name="head_cam_rgb_optical_frame"/>
  <!-- ASUS Xtion PRO camera for simulation -->
  <gazebo reference="head_cam_depth_frame">
    <sensor name="head_cam" type="depth">
      <update_rate>20</update_rate>
      <camera>
        <horizontal_fov>1.09606677025</horizontal_fov>
        <image>
          <format>R8G8B8</format>
          <width>640</width>
          <height>480</height>
        </image>
        <clip>
          <near>0.5</near>
          <far>9</far>
        </clip>
      </camera>
      <plugin filename="libgazebo_ros_openni_kinect.so" name="head_cam_camera_controller">
        <imageTopicName>head_cam/rgb/image_raw</imageTopicName>
        <cameraInfoTopicName>head_cam/rgb/camera_info</cameraInfoTopicName>
        <depthImageTopicName>head_cam/depth/image_raw</depthImageTopicName>
        <depthImageCameraInfoTopicName>head_cam/depth/camera_info</depthImageCameraInfoTopicName>
        <pointCloudTopicName>head_cam/depth/points</pointCloudTopicName>
        <frameName>head_cam_depth_optical_frame</frameName>
      </plugin>
    </sensor>
  </gazebo>
  <!-- <gazebo reference="${name}_spinning_lidar_root_link"><material>Gazebo/Grey</material></gazebo><gazebo reference="${name}_spinning_lidar_spin_link"><material>Gazebo/Grey</material></gazebo> -->
  <!--  
  <thor_lidar_pan_unit_macro parent="utorso" name="waist">
    <origin xyz="0.05 0.0 0.08" rpy="0 0 0"/>
  </thor_lidar_pan_unit_macro>
  -->
  <!--<xacro:include filename="$(find thor_vt_hand_description)/urdf/vt_finger_tud.urdf.xacro"/>-->
  <!--<xacro:include filename="$(find thor_mang_description)/urdf/joint_params.xacro" />-->
  <!-- Increased effort limit by x10 for gazebo -->
  <!-- unit conversions -->
  <!-- inventor sometimes gives ridiculous units -->
  <!-- such conversion factors make description easier to read -->
  <!-- colors -->
  <!-- colors -->
  <!--<xacro:include filename="$(find thor_mang_description)/urdf/joint_params.xacro" />-->
  <!-- Increased effort limit by x10 for gazebo -->
  <!-- link list -->
  <link name="l_f1_link_0">
    <visual>
      <origin rpy="0 0 0" xyz="0 0 0"/>
      <geometry>
        <mesh filename="package://centaur/meshes/l_f1_link_0.stl"/>
      </geometry>
      <material name="green">
        <color rgba="0 1 0 1"/>
      </material>
    </visual>
    <visual>
      <origin rpy="0.4 0 0" xyz="0 -0.00407 0.04983"/>
      <geometry>
        <mesh filename="package://centaur/meshes/l_f1_link_1.stl"/>
      </geometry>
      <material name="green"/>
    </visual>
    <collision>
      <origin rpy="0 1.57079632679 0" xyz="0 0 0"/>
      <geometry>
        <cylinder length="0.02" radius="0.017"/>
      </geometry>
      <material name="yellow">
        <color rgba="0 1 1 1"/>
      </material>
    </collision>
    <collision>
      <origin rpy="0 0 0" xyz="0 0 0.02"/>
      <geometry>
        <cylinder length="0.04" radius="0.008"/>
      </geometry>
      <material name="yellow"/>
    </collision>
    <collision>
      <origin rpy="0 1.57079632679 0" xyz="0 -0.00407 0.042"/>
      <geometry>
        <cylinder length="0.02" radius="0.014"/>
      </geometry>
      <material name="yellow">
        <color rgba="0 1 1 1"/>
      </material>
    </collision>
    <collision>
      <!--<origin xyz="0 -0.00407 0.04983" rpy="0.4 0 0"/>-->
      <origin rpy="0.4 0 0" xyz="0.001 -0.00207 0.06783 "/>
      <geometry>
        <cylinder length="0.05" radius="0.008"/>
      </geometry>
      <material name="yellow"/>
    </collision>
    <!-- WARNING: INERTIA NOT CORRECT -->
    <inertial>
      <origin rpy="0 0 0" xyz="0.0002 0.92e-03 21.11e-03"/>
      <mass value="0.1"/>
      <inertia ixx="21.39e-06" ixy="-3.9e-07" ixz="7.1e-07" iyy="18.98e-06" iyz="-1.36e-06" izz="4.73e-06"/>
    </inertial>
  </link>
  <gazebo reference="l_f1_link_0">
    <mu1>1.1</mu1>
    <mu2>1.1</mu2>
    <kp>1000000.0</kp>
    <kd>10.0</kd>
    <maxVel>0.1</maxVel>
    <minDepth>0.00</minDepth>
    <maxContacts>1</maxContacts>
  </gazebo>
  <!--    <link name="${prefix}_link_1">
      <visual>
        <origin xyz="0 0 0" rpy="0 0 0"/>
        <geometry>
          <mesh filename="package://centaur/meshes/${prefix}_link_1.stl"/>
        </geometry>
        <material name="green"/>
      </visual>
      <collision>
        <origin xyz="-0.002 0.007 0.018" rpy="0 0 0"/>
        <geometry>
          <cylinder length="0.05" radius="0.008"/>
        </geometry>
        <material name="yellow"/>
      </collision>
    </link>-->
  <!--    <gazebo reference="${prefix}_link_1">
      <mu1>1.1</mu1>
      <mu2>1.1</mu2>
      <kp>1000000.0</kp>
      <kd>10.0</kd>
      <maxVel>0.1</maxVel>
      <minDepth>0.00</minDepth>
      <maxContacts>1</maxContacts>

    </gazebo>-->
  <!-- end of link list -->
  <!-- joint list -->
  <!-- WARNING: UPPER LIMIT NOT CORRECT/IGNORED WHILE USING MIMIC JOINT TYPE -->
  <!--		
                <joint name="${prefix}_j1" type="revolute">
                        <parent link="${prefix}_link_0"/>
                        <child link="${prefix}_link_1"/>
                        <axis xyz="1 0 0"/>
                        <origin xyz="0 -0.00407 0.04983" rpy="0.4 0 0"/>
                        <limit lower="0" upper="0.8" effort="100" velocity="100"/>
                        <mimic joint="${prefix}_j0" multiplier="0.4" offset="0"/>
                </joint>
                -->
  <!--   
    <joint name="${prefix}_j1" type="fixed">
      <parent link="${prefix}_link_0"/>
      <child link="${prefix}_link_1"/>
      <axis xyz="1 0 0"/>
      <origin xyz="0 -0.00407 0.04983" rpy="0.4 0 0"/>
      <limit lower="0" upper="0.8" effort="100" velocity="100"/>
    </joint>
    -->
  <!-- end of joint list -->
  <!-- link list -->
  <link name="l_f0_link_0">
    <visual>
      <origin rpy="0 0 0" xyz="0 0 0"/>
      <geometry>
        <mesh filename="package://centaur/meshes/l_f0_link_0.stl"/>
      </geometry>
      <material name="green">
        <color rgba="0 1 0 1"/>
      </material>
    </visual>
    <visual>
      <origin rpy="0.4 0 0" xyz="0 -0.00407 0.04983"/>
      <geometry>
        <mesh filename="package://centaur/meshes/l_f0_link_1.stl"/>
      </geometry>
      <material name="green"/>
    </visual>
    <collision>
      <origin rpy="0 1.57079632679 0" xyz="0 0 0"/>
      <geometry>
        <cylinder length="0.02" radius="0.017"/>
      </geometry>
      <material name="yellow">
        <color rgba="0 1 1 1"/>
      </material>
    </collision>
    <collision>
      <origin rpy="0 0 0" xyz="0 0 0.02"/>
      <geometry>
        <cylinder length="0.04" radius="0.008"/>
      </geometry>
      <material name="yellow"/>
    </collision>
    <collision>
      <origin rpy="0 1.57079632679 0" xyz="0 -0.00407 0.042"/>
      <geometry>
        <cylinder length="0.02" radius="0.014"/>
      </geometry>
      <material name="yellow">
        <color rgba="0 1 1 1"/>
      </material>
    </collision>
    <collision>
      <!--<origin xyz="0 -0.00407 0.04983" rpy="0.4 0 0"/>-->
      <origin rpy="0.4 0 0" xyz="0.001 -0.00207 0.06783 "/>
      <geometry>
        <cylinder length="0.05" radius="0.008"/>
      </geometry>
      <material name="yellow"/>
    </collision>
    <!-- WARNING: INERTIA NOT CORRECT -->
    <inertial>
      <origin rpy="0 0 0" xyz="-0.0002 0.92e-03 21.11e-03"/>
      <mass value="0.1"/>
      <inertia ixx="21.39e-06" ixy="3.9e-07" ixz="-7.1e-07" iyy="18.98e-06" iyz="-1.36e-06" izz="4.73e-06"/>
    </inertial>
  </link>
  <gazebo reference="l_f0_link_0">
    <mu1>1.1</mu1>
    <mu2>1.1</mu2>
    <kp>1000000.0</kp>
    <kd>10.0</kd>
    <maxVel>0.1</maxVel>
    <minDepth>0.00</minDepth>
    <maxContacts>1</maxContacts>
  </gazebo>
  <!--    <link name="${prefix}_link_1">
      <visual>
        <origin xyz="0 0 0" rpy="0 0 0"/>
        <geometry>
          <mesh filename="package://centaur/meshes/${prefix}_link_1.stl"/>
        </geometry>
        <material name="green"/>
      </visual>
      <collision>
        <origin xyz="-0.002 0.007 0.018" rpy="0 0 0"/>
        <geometry>
          <cylinder length="0.05" radius="0.008"/>
        </geometry>
        <material name="yellow"/>
      </collision>
    </link>-->
  <!--    <gazebo reference="${prefix}_link_1">
      <mu1>1.1</mu1>
      <mu2>1.1</mu2>
      <kp>1000000.0</kp>
      <kd>10.0</kd>
      <maxVel>0.1</maxVel>
      <minDepth>0.00</minDepth>
      <maxContacts>1</maxContacts>

    </gazebo>-->
  <!-- end of link list -->
  <!-- joint list -->
  <!-- WARNING: UPPER LIMIT NOT CORRECT/IGNORED WHILE USING MIMIC JOINT TYPE -->
  <!--		
                <joint name="${prefix}_j1" type="revolute">
                        <parent link="${prefix}_link_0"/>
                        <child link="${prefix}_link_1"/>
                        <axis xyz="1 0 0"/>
                        <origin xyz="0 -0.00407 0.04983" rpy="0.4 0 0"/>
                        <limit lower="0" upper="0.8" effort="100" velocity="100"/>
                        <mimic joint="${prefix}_j0" multiplier="0.4" offset="0"/>
                </joint>
                -->
  <!--   
    <joint name="${prefix}_j1" type="fixed">
      <parent link="${prefix}_link_0"/>
      <child link="${prefix}_link_1"/>
      <axis xyz="1 0 0"/>
      <origin xyz="0 -0.00407 0.04983" rpy="0.4 0 0"/>
      <limit lower="0" upper="0.8" effort="100" velocity="100"/>
    </joint>
    -->
  <!-- end of joint list -->
  <joint name="l_vt_hand_joint" type="fixed">
    <origin rpy="3.141592 0 1.570796" xyz="0 0 -0.16"/>
    <parent link="l_hand"/>
    <child link="l_palm"/>
  </joint>
  <!-- link list -->
  <link name="l_palm">
    <!--
      <collision name="collision_aaa">
        <geometry>
          <mesh filename="package://centaur/meshes/${prefix}_palm.stl"/>
        </geometry>
      </collision>
      <visual>
        <geometry>
          <mesh filename="package://centaur/meshes/${prefix}_palm.stl"/>
        </geometry>
        <material name="green">
          <color rgba="0 1 0 1"/>
        </material>
      </visual>
-->
    <visual>
      <origin rpy="0 0 0" xyz="0 0 0"/>
      <geometry>
        <mesh filename="package://centaur/meshes/l_palm.stl"/>
      </geometry>
      <material name="green">
        <color rgba="0 1 0 1"/>
      </material>
    </visual>
    <collision>
      <origin rpy="0 0 0" xyz="0 0 0"/>
      <geometry>
        <mesh filename="package://centaur/meshes/l_palm.stl"/>
      </geometry>
      <material name="yellow">
        <color rgba="0 1 1 1"/>
      </material>
    </collision>
    <!-- WARNING: INERTIA NOT CORRECT -->
    <inertial>
      <origin rpy="0 0 0" xyz="-0.00344 6.49e-03 42.12e-03"/>
      <mass value="0.7"/>
      <inertia ixx="0.1e-04" ixy="0" ixz="0" iyy="0.07e-04" iyz="0" izz="0.1e-04"/>
    </inertial>
  </link>
  <gazebo reference="l_palm">
    <sensor name="l_HT_contact" type="contact">
      <plugin filename="libcontactHT.so" name="l_HT_plugin"/>
      <contact>
        <collision>r_hand_fixed_joint_lump__r_palm_collision_1</collision>
        <collision>l_hand_fixed_joint_lump__l_palm_collision_1</collision>
      </contact>
    </sensor>
    <!--
      <audio_source>
        <uri>file://media/audio/Hammering_normal.wav</uri>
        <pitch>2.0</pitch>
        <gain>1.0</gain>
        <loop>false</loop>
        <contact>
          <collision>r_hand_fixed_joint_lump__r_palm_collision_1</collision>
          <collision>l_hand_fixed_joint_lump__l_palm_collision_1</collision>
        </contact>
      </audio_source>
-->
  </gazebo>
  <gazebo reference="l_palm">
    <mu1>1.1</mu1>
    <mu2>1.1</mu2>
    <kp>1000000.0</kp>
    <kd>1.0</kd>
    <maxVel>0.1</maxVel>
    <minDepth>0.00</minDepth>
    <maxContacts>6</maxContacts>
    <!--<material>Gazebo/FlatBlack</material>-->
  </gazebo>
  <!-- end of link list -->
  <!-- joint list -->
  <joint name="l_f1_j0" type="revolute">
    <parent link="l_palm"/>
    <child link="l_f1_link_0"/>
    <axis xyz="1 0 0"/>
    <origin rpy="-1.315 0 0" xyz="-0.036 0.0361 0.0596"/>
    <limit effort="10" lower="0" upper="2.685" velocity="10"/>
    <!--<dynamics damping="0.1"/>-->
  </joint>
  <joint name="l_f0_j0" type="revolute">
    <parent link="l_palm"/>
    <child link="l_f0_link_0"/>
    <axis xyz="1 0 0"/>
    <origin rpy="-1.315 0 0" xyz="0.0355 0.0361 0.0596"/>
    <limit effort="10" lower="0" upper="2.685" velocity="10"/>
    <!--<dynamics damping="0.1"/>-->
  </joint>
  <!-- end of joint list -->
  <!--<gazebo>
        <plugin name="THOR_VT_HandPlugin" filename="libTHOR_VT_HandPlugin.so">
		<prefix>${prefix}</prefix>
        </plugin>

        <kp>1000000.0</kp>
    	<kd>100.0</kd>
   	<mu1>1.5</mu1>
    	<mu2>1.5</mu2>
    	<fdir1>1 0 0</fdir1>
    	<maxVel>1.0</maxVel>
        <minDepth>0.00</minDepth>
        <implicitSpringDamper>1</implicitSpringDamper>
	</gazebo>-->
  <!--Transmissions for gazebo ros control-->
  <transmission name="l_f0_j0_transmssion">
    <type>transmission_interface/SimpleTransmission</type>
    <joint name="l_f0_j0">
      <hardwareInterface>EffortJointInterface</hardwareInterface>
    </joint>
    <actuator name="l_f0_j0_motor">
      <hardwareInterface>EffortJointInterface</hardwareInterface>
      <mechanicalReduction>1</mechanicalReduction>
    </actuator>
  </transmission>
  <gazebo reference="l_f0_j0">
    <implicitSpringDamper>1</implicitSpringDamper>
  </gazebo>
  <transmission name="l_f1_j0_transmssion">
    <type>transmission_interface/SimpleTransmission</type>
    <joint name="l_f1_j0">
      <hardwareInterface>EffortJointInterface</hardwareInterface>
    </joint>
    <actuator name="l_f1_j0_motor">
      <hardwareInterface>EffortJointInterface</hardwareInterface>
      <mechanicalReduction>1</mechanicalReduction>
    </actuator>
  </transmission>
  <gazebo reference="l_f1_j0">
    <implicitSpringDamper>1</implicitSpringDamper>
  </gazebo>
  <!--gazebo>
    <plugin name="gazebo_ros_control" filename="libgazebo_ros_control.so">
      <robotNamespace>thor_mang</robotNamespace>
      <robotSimType>gazebo_ros_control/VT_Hand_HWSim</robotSimType>
    </plugin>
  </gazebo-->
  <!--<xacro:include filename="$(find thor_vt_hand_description)/urdf/vt_finger_tud.urdf.xacro"/>-->
  <!--<xacro:include filename="$(find thor_mang_description)/urdf/joint_params.xacro" />-->
  <!-- Increased effort limit by x10 for gazebo -->
  <!-- unit conversions -->
  <!-- inventor sometimes gives ridiculous units -->
  <!-- such conversion factors make description easier to read -->
  <!-- colors -->
  <!-- colors -->
  <!--<xacro:include filename="$(find thor_mang_description)/urdf/joint_params.xacro" />-->
  <!-- Increased effort limit by x10 for gazebo -->
  <!-- link list -->
  <link name="r_f1_link_0">
    <visual>
      <origin rpy="0 0 0" xyz="0 0 0"/>
      <geometry>
        <mesh filename="package://centaur/meshes/r_f1_link_0.stl"/>
      </geometry>
      <material name="green">
        <color rgba="0 1 0 1"/>
      </material>
    </visual>
    <visual>
      <origin rpy="0.4 0 0" xyz="0 -0.00407 0.04983"/>
      <geometry>
        <mesh filename="package://centaur/meshes/r_f1_link_1.stl"/>
      </geometry>
      <material name="green"/>
    </visual>
    <collision>
      <origin rpy="0 1.57079632679 0" xyz="0 0 0"/>
      <geometry>
        <cylinder length="0.02" radius="0.017"/>
      </geometry>
      <material name="yellow">
        <color rgba="0 1 1 1"/>
      </material>
    </collision>
    <collision>
      <origin rpy="0 0 0" xyz="0 0 0.02"/>
      <geometry>
        <cylinder length="0.04" radius="0.008"/>
      </geometry>
      <material name="yellow"/>
    </collision>
    <collision>
      <origin rpy="0 1.57079632679 0" xyz="0 -0.00407 0.042"/>
      <geometry>
        <cylinder length="0.02" radius="0.014"/>
      </geometry>
      <material name="yellow">
        <color rgba="0 1 1 1"/>
      </material>
    </collision>
    <collision>
      <!--<origin xyz="0 -0.00407 0.04983" rpy="0.4 0 0"/>-->
      <origin rpy="0.4 0 0" xyz="0.001 -0.00207 0.06783 "/>
      <geometry>
        <cylinder length="0.05" radius="0.008"/>
      </geometry>
      <material name="yellow"/>
    </collision>
    <!-- WARNING: INERTIA NOT CORRECT -->
    <inertial>
      <origin rpy="0 0 0" xyz="-0.0002 0.92e-03 21.11e-03"/>
      <mass value="0.1"/>
      <inertia ixx="21.39e-06" ixy="3.9e-07" ixz="-7.1e-07" iyy="18.98e-06" iyz="-1.36e-06" izz="4.73e-06"/>
    </inertial>
  </link>
  <gazebo reference="r_f1_link_0">
    <mu1>1.1</mu1>
    <mu2>1.1</mu2>
    <kp>1000000.0</kp>
    <kd>10.0</kd>
    <maxVel>0.1</maxVel>
    <minDepth>0.00</minDepth>
    <maxContacts>1</maxContacts>
  </gazebo>
  <!--    <link name="${prefix}_link_1">
      <visual>
        <origin xyz="0 0 0" rpy="0 0 0"/>
        <geometry>
          <mesh filename="package://centaur/meshes/${prefix}_link_1.stl"/>
        </geometry>
        <material name="green"/>
      </visual>
      <collision>
        <origin xyz="-0.002 0.007 0.018" rpy="0 0 0"/>
        <geometry>
          <cylinder length="0.05" radius="0.008"/>
        </geometry>
        <material name="yellow"/>
      </collision>
    </link>-->
  <!--    <gazebo reference="${prefix}_link_1">
      <mu1>1.1</mu1>
      <mu2>1.1</mu2>
      <kp>1000000.0</kp>
      <kd>10.0</kd>
      <maxVel>0.1</maxVel>
      <minDepth>0.00</minDepth>
      <maxContacts>1</maxContacts>

    </gazebo>-->
  <!-- end of link list -->
  <!-- joint list -->
  <!-- WARNING: UPPER LIMIT NOT CORRECT/IGNORED WHILE USING MIMIC JOINT TYPE -->
  <!--		
                <joint name="${prefix}_j1" type="revolute">
                        <parent link="${prefix}_link_0"/>
                        <child link="${prefix}_link_1"/>
                        <axis xyz="1 0 0"/>
                        <origin xyz="0 -0.00407 0.04983" rpy="0.4 0 0"/>
                        <limit lower="0" upper="0.8" effort="100" velocity="100"/>
                        <mimic joint="${prefix}_j0" multiplier="0.4" offset="0"/>
                </joint>
                -->
  <!--   
    <joint name="${prefix}_j1" type="fixed">
      <parent link="${prefix}_link_0"/>
      <child link="${prefix}_link_1"/>
      <axis xyz="1 0 0"/>
      <origin xyz="0 -0.00407 0.04983" rpy="0.4 0 0"/>
      <limit lower="0" upper="0.8" effort="100" velocity="100"/>
    </joint>
    -->
  <!-- end of joint list -->
  <!-- link list -->
  <link name="r_f0_link_0">
    <visual>
      <origin rpy="0 0 0" xyz="0 0 0"/>
      <geometry>
        <mesh filename="package://centaur/meshes/r_f0_link_0.stl"/>
      </geometry>
      <material name="green">
        <color rgba="0 1 0 1"/>
      </material>
    </visual>
    <visual>
      <origin rpy="0.4 0 0" xyz="0 -0.00407 0.04983"/>
      <geometry>
        <mesh filename="package://centaur/meshes/r_f0_link_1.stl"/>
      </geometry>
      <material name="green"/>
    </visual>
    <collision>
      <origin rpy="0 1.57079632679 0" xyz="0 0 0"/>
      <geometry>
        <cylinder length="0.02" radius="0.017"/>
      </geometry>
      <material name="yellow">
        <color rgba="0 1 1 1"/>
      </material>
    </collision>
    <collision>
      <origin rpy="0 0 0" xyz="0 0 0.02"/>
      <geometry>
        <cylinder length="0.04" radius="0.008"/>
      </geometry>
      <material name="yellow"/>
    </collision>
    <collision>
      <origin rpy="0 1.57079632679 0" xyz="0 -0.00407 0.042"/>
      <geometry>
        <cylinder length="0.02" radius="0.014"/>
      </geometry>
      <material name="yellow">
        <color rgba="0 1 1 1"/>
      </material>
    </collision>
    <collision>
      <!--<origin xyz="0 -0.00407 0.04983" rpy="0.4 0 0"/>-->
      <origin rpy="0.4 0 0" xyz="0.001 -0.00207 0.06783 "/>
      <geometry>
        <cylinder length="0.05" radius="0.008"/>
      </geometry>
      <material name="yellow"/>
    </collision>
    <!-- WARNING: INERTIA NOT CORRECT -->
    <inertial>
      <origin rpy="0 0 0" xyz="0.0002 0.92e-03 21.11e-03"/>
      <mass value="0.1"/>
      <inertia ixx="21.39e-06" ixy="-3.9e-07" ixz="7.1e-07" iyy="18.98e-06" iyz="-1.36e-06" izz="4.73e-06"/>
    </inertial>
  </link>
  <gazebo reference="r_f0_link_0">
    <mu1>1.1</mu1>
    <mu2>1.1</mu2>
    <kp>1000000.0</kp>
    <kd>10.0</kd>
    <maxVel>0.1</maxVel>
    <minDepth>0.00</minDepth>
    <maxContacts>1</maxContacts>
  </gazebo>
  <!--    <link name="${prefix}_link_1">
      <visual>
        <origin xyz="0 0 0" rpy="0 0 0"/>
        <geometry>
          <mesh filename="package://centaur/meshes/${prefix}_link_1.stl"/>
        </geometry>
        <material name="green"/>
      </visual>
      <collision>
        <origin xyz="-0.002 0.007 0.018" rpy="0 0 0"/>
        <geometry>
          <cylinder length="0.05" radius="0.008"/>
        </geometry>
        <material name="yellow"/>
      </collision>
    </link>-->
  <!--    <gazebo reference="${prefix}_link_1">
      <mu1>1.1</mu1>
      <mu2>1.1</mu2>
      <kp>1000000.0</kp>
      <kd>10.0</kd>
      <maxVel>0.1</maxVel>
      <minDepth>0.00</minDepth>
      <maxContacts>1</maxContacts>

    </gazebo>-->
  <!-- end of link list -->
  <!-- joint list -->
  <!-- WARNING: UPPER LIMIT NOT CORRECT/IGNORED WHILE USING MIMIC JOINT TYPE -->
  <!--		
                <joint name="${prefix}_j1" type="revolute">
                        <parent link="${prefix}_link_0"/>
                        <child link="${prefix}_link_1"/>
                        <axis xyz="1 0 0"/>
                        <origin xyz="0 -0.00407 0.04983" rpy="0.4 0 0"/>
                        <limit lower="0" upper="0.8" effort="100" velocity="100"/>
                        <mimic joint="${prefix}_j0" multiplier="0.4" offset="0"/>
                </joint>
                -->
  <!--   
    <joint name="${prefix}_j1" type="fixed">
      <parent link="${prefix}_link_0"/>
      <child link="${prefix}_link_1"/>
      <axis xyz="1 0 0"/>
      <origin xyz="0 -0.00407 0.04983" rpy="0.4 0 0"/>
      <limit lower="0" upper="0.8" effort="100" velocity="100"/>
    </joint>
    -->
  <!-- end of joint list -->
  <joint name="r_vt_hand_joint" type="fixed">
    <origin rpy="3.141592 0 1.570796" xyz="0 0 -0.16"/>
    <parent link="r_hand"/>
    <child link="r_palm"/>
  </joint>
  <!-- link list -->
  <link name="r_palm">
    <!--
      <collision name="collision_aaa">
        <geometry>
          <mesh filename="package://centaur/meshes/${prefix}_palm.stl"/>
        </geometry>
      </collision>
      <visual>
        <geometry>
          <mesh filename="package://centaur/meshes/${prefix}_palm.stl"/>
        </geometry>
        <material name="green">
          <color rgba="0 1 0 1"/>
        </material>
      </visual>
-->
    <visual>
      <origin rpy="0 0 0" xyz="0 0 0"/>
      <geometry>
        <mesh filename="package://centaur/meshes/r_palm.stl"/>
      </geometry>
      <material name="green">
        <color rgba="0 1 0 1"/>
      </material>
    </visual>
    <collision>
      <origin rpy="0 0 0" xyz="0 0 0"/>
      <geometry>
        <mesh filename="package://centaur/meshes/r_palm.stl"/>
      </geometry>
      <material name="yellow">
        <color rgba="0 1 1 1"/>
      </material>
    </collision>
    <!-- WARNING: INERTIA NOT CORRECT -->
    <inertial>
      <origin rpy="0 0 0" xyz="0.00344 6.49e-03 42.12e-03"/>
      <mass value="0.7"/>
      <inertia ixx="0.1e-04" ixy="0" ixz="0" iyy="0.07e-04" iyz="0" izz="0.1e-04"/>
    </inertial>
  </link>
  <gazebo reference="r_palm">
    <sensor name="r_HT_contact" type="contact">
      <plugin filename="libcontactHT.so" name="r_HT_plugin"/>
      <contact>
        <collision>r_hand_fixed_joint_lump__r_palm_collision_1</collision>
        <collision>l_hand_fixed_joint_lump__l_palm_collision_1</collision>
      </contact>
    </sensor>
    <!--
      <audio_source>
        <uri>file://media/audio/Hammering_normal.wav</uri>
        <pitch>2.0</pitch>
        <gain>1.0</gain>
        <loop>false</loop>
        <contact>
          <collision>r_hand_fixed_joint_lump__r_palm_collision_1</collision>
          <collision>l_hand_fixed_joint_lump__l_palm_collision_1</collision>
        </contact>
      </audio_source>
-->
  </gazebo>
  <gazebo reference="r_palm">
    <mu1>1.1</mu1>
    <mu2>1.1</mu2>
    <kp>1000000.0</kp>
    <kd>1.0</kd>
    <maxVel>0.1</maxVel>
    <minDepth>0.00</minDepth>
    <maxContacts>6</maxContacts>
    <!--<material>Gazebo/FlatBlack</material>-->
  </gazebo>
  <!-- end of link list -->
  <!-- joint list -->
  <joint name="r_f1_j0" type="revolute">
    <parent link="r_palm"/>
    <child link="r_f1_link_0"/>
    <axis xyz="1 0 0"/>
    <origin rpy="-1.315 0 0" xyz="0.036 0.0361 0.0596"/>
    <limit effort="10" lower="0" upper="2.685" velocity="10"/>
    <!--<dynamics damping="0.1"/>-->
  </joint>
  <joint name="r_f0_j0" type="revolute">
    <parent link="r_palm"/>
    <child link="r_f0_link_0"/>
    <axis xyz="1 0 0"/>
    <origin rpy="-1.315 0 0" xyz="-0.0355 0.0361 0.0596"/>
    <limit effort="10" lower="0" upper="2.685" velocity="10"/>
    <!--<dynamics damping="0.1"/>-->
  </joint>
  <!-- end of joint list -->
  <!--<gazebo>
        <plugin name="THOR_VT_HandPlugin" filename="libTHOR_VT_HandPlugin.so">
		<prefix>${prefix}</prefix>
        </plugin>

        <kp>1000000.0</kp>
    	<kd>100.0</kd>
   	<mu1>1.5</mu1>
    	<mu2>1.5</mu2>
    	<fdir1>1 0 0</fdir1>
    	<maxVel>1.0</maxVel>
        <minDepth>0.00</minDepth>
        <implicitSpringDamper>1</implicitSpringDamper>
	</gazebo>-->
  <!--Transmissions for gazebo ros control-->
  <transmission name="r_f0_j0_transmssion">
    <type>transmission_interface/SimpleTransmission</type>
    <joint name="r_f0_j0">
      <hardwareInterface>EffortJointInterface</hardwareInterface>
    </joint>
    <actuator name="r_f0_j0_motor">
      <hardwareInterface>EffortJointInterface</hardwareInterface>
      <mechanicalReduction>1</mechanicalReduction>
    </actuator>
  </transmission>
  <gazebo reference="r_f0_j0">
    <implicitSpringDamper>1</implicitSpringDamper>
  </gazebo>
  <transmission name="r_f1_j0_transmssion">
    <type>transmission_interface/SimpleTransmission</type>
    <joint name="r_f1_j0">
      <hardwareInterface>EffortJointInterface</hardwareInterface>
    </joint>
    <actuator name="r_f1_j0_motor">
      <hardwareInterface>EffortJointInterface</hardwareInterface>
      <mechanicalReduction>1</mechanicalReduction>
    </actuator>
  </transmission>
  <gazebo reference="r_f1_j0">
    <implicitSpringDamper>1</implicitSpringDamper>
  </gazebo>
  <!--gazebo>
    <plugin name="gazebo_ros_control" filename="libgazebo_ros_control.so">
      <robotNamespace>thor_mang</robotNamespace>
      <robotSimType>gazebo_ros_control/VT_Hand_HWSim</robotSimType>
    </plugin>
  </gazebo-->
  <gazebo>
    <plugin filename="libgazebo_ros_control.so" name="gazebo_ros_control">
      <robotNamespace>thor_mang</robotNamespace>
    </plugin>
  </gazebo>
  <!--</macro>-->
  <!--between ground and lower edge of socket-->
  <!--between upper edge of socket and center of ultrasound sensor-->
  <!--between rear edge of socket and middle ultrasound sensor-->
  <!--between rear edge of socket and left/rigth ultrasound sensor-->
  <!--between x-axis of socket and left/rigth ultrasound sensor-->
  <!--angel between reverse x-axis and left/rigth ultrasound sensor z-axis-->
  <!--<xacro:property name="laser0PitchServo_x_offset" value="0.07" />-->
  <!--between front edge of base and laser0 pitch axis-->
  <!--<xacro:property name="laser0PitchServo_z_offset" value="-0.03" />-->
  <!--between lower edge of base and laser0 pitch axis-->
  <!--<xacro:property name="laser0_x_offset" value="0.023" />-->
  <!--between laser0 pitch axis and laser0 center-->
  <!--between laser0 pitch axis and laserscan plane-->
  <!--<xacro:property name="top_size_x" value="0.185" />-->
  <!--between front edge of top and laser1 pitch axis-->
  <!--<xacro:property name="laser1RollServo_height" value="0.039" />-->
  <!--between lower edge of top and laser1 roll axis-->
  <!--between laser1 roll axis and laserscan plane-->
  <!-- between laser1 pitch axis and laser1 center-->
  <!--<xacro:property name="cameraYawServo_size_z" value="0.091" />-->
  <!--between upper edge of top and camera pitch axis-->
  <!--<xacro:property name="cameraYawServo_x_position" value="-0.027" />-->
  <!--between front edge of top and camera yaw axis-->
  <!--<xacro:property name="camera_size_y" value="0.02" />-->
  <!--<xacro:property name="camera_size_z" value="0.02" />-->
  <!--between intersection point of yaw and pitch axis and center of camera lense-->
  <!--<xacro:property name="camera_y_position" value="-0.049" />-->
  <!--  <xacro:property name="infrared_size_x" value="0.09" />
  <xacro:property name="infrared_radius" value="0.015" />
  <xacro:property name="infrared_x_position" value="0.03" />-->
  <!--between intersection point of yaw and pitch axis and center of infrared lense-->
  <!--<xacro:property name="infrared_y_position" value="0.04" />-->
  <!--5.8cm between front and servo axis-->
  <!--between intersection point of yaw and pitch axis and center of camera lense-->
  <!--   <xacro:property name="kinect_yaw_position" value="0" />/>-->
  <!--between base_link and laser1 roll axis-->
  <!--between upper edge of top and camera pitch axis-->
  <!--between front edge of top and camera yaw axis-->
  <joint name="laser1/x" type="revolute">
    <origin rpy="0 0 0" xyz="0.146 0 0.2"/>
    <parent link="base_link"/>
    <child link="laser1RollServo"/>
    <axis xyz="1 0 0"/>
    <limit effort="100" lower="-1.57079632679" upper="1.57079632679" velocity="100"/>
  </joint>
  <link name="laser1RollServo">
    <inertial>
      <mass value="0.1"/>
      <origin xyz="0 0 0"/>
      <inertia ixx="4.9e-05" ixy="0.0" ixz="0.0" iyy="4.9e-05" iyz="0.0" izz="4.9e-05"/>
    </inertial>
    <visual>
      <origin rpy="0 0 0" xyz="0.032 0.0 0.0"/>
      <geometry>
        <box size="0.064 0.03 0.04"/>
      </geometry>
      <material name="Blue"/>
    </visual>
    <collision>
      <origin rpy="0 0 0" xyz="0.032 0.0 0.0"/>
      <geometry>
        <box size="0.064 0.03 0.04"/>
      </geometry>
    </collision>
  </link>
  <joint name="laser1/y" type="revolute">
    <origin rpy="0 0 0" xyz="0.064 0 0"/>
    <parent link="laser1RollServo"/>
    <child link="laser1_link"/>
    <axis xyz="0 1 0"/>
    <limit effort="100" lower="-1.57079632679" upper="1.57079632679" velocity="100"/>
  </joint>
  <link name="laser1_link">
    <inertial>
      <mass value="0.1"/>
      <origin xyz="0 0 0"/>
      <inertia ixx="4.9e-05" ixy="0.0" ixz="0.0" iyy="4.9e-05" iyz="0.0" izz="4.9e-05"/>
    </inertial>
    <visual>
      <origin rpy="0 0 0" xyz="0.0 0.0 0.045"/>
      <geometry>
        <!--<box size="${laser1_size_x} ${laser1_size_y} ${laser1_size_z}" />-->
        <box size="0.05 0.05 0.01"/>
      </geometry>
      <material name="Grey"/>
    </visual>
    <collision>
      <origin rpy="0 0 0" xyz="0.0 0.0 0.045"/>
      <geometry>
        <!--<box size="${laser1_size_x} ${laser1_size_y} ${laser1_size_z}" />-->
        <box size="0.05 0.05 0.01"/>
      </geometry>
    </collision>
  </link>
  <joint name="laser1_joint" type="fixed">
    <origin rpy="0 0 0" xyz="0.03 0 0.085"/>
    <parent link="laser1_link"/>
    <child link="laser1_frame"/>
  </joint>
  <link name="laser1_frame">
    <inertial>
      <mass value="0.270"/>
      <origin rpy="0 0 0" xyz="0 0 0"/>
      <inertia ixx="2.632e-4" ixy="0" ixz="0" iyy="2.632e-4" iyz="0" izz="1.62e-4"/>
    </inertial>
    <visual>
      <origin rpy="0 0 0" xyz="0 0 0"/>
      <geometry>
        <mesh filename="package://centaur/meshes/hokuyo_utm_30lx.dae"/>
      </geometry>
    </visual>
    <collision>
      <origin rpy="0 0 0" xyz="0 0 -0.0115"/>
      <geometry>
        <box size="0.058 0.058 0.087"/>
        <!--<mesh filename="package://centaur/meshes/hokuyo_utm_30lx.stl"/>-->
      </geometry>
    </collision>
  </link>
  <gazebo reference="laser1_frame">
    <sensor name="laser1" type="ray">
      <always_on>true</always_on>
      <update_rate>40</update_rate>
      <pose>0 0 0 0 0 0</pose>
      <visualize>false</visualize>
      <ray>
        <scan>
          <horizontal>
            <samples>1081</samples>
            <resolution>1</resolution>
            <min_angle>2.35619449019</min_angle>
            <max_angle>-2.35619449019</max_angle>
          </horizontal>
        </scan>
        <range>
          <min>0.2</min>
          <max>30.0</max>
          <resolution>0.01</resolution>
        </range>
        <noise>
          <type>gaussian</type>
          <mean>0.0</mean>
          <stddev>0.004</stddev>
        </noise>
      </ray>
      <plugin filename="libgazebo_ros_laser.so" name="gazebo_ros_laser1_controller">
        <topicName>/laser1/scan_no_intensities_from_gazebo</topicName>
        <frameName>laser1_frame</frameName>
      </plugin>
    </sensor>
  </gazebo>
  <gazebo>
    <plugin filename="libhector_servo_plugin.so" name="laser1_servo_controller">
      <alwaysOn>true</alwaysOn>
      <controlRate>50.0</controlRate>
      <updateRate>0.0</updateRate>
      <firstServoName>laser1/x</firstServoName>
      <firstServoAxis>1 0 0</firstServoAxis>
      <secondServoName>laser1/y</secondServoName>
      <secondServoAxis>0 1 0</secondServoAxis>
      <torque>0.5</torque>
      <robotNamespace>/</robotNamespace>
      <topicName>laser1/command</topicName>
      <jointStateName>joint_states</jointStateName>
      <proportionalControllerGain>8.0</proportionalControllerGain>
      <derivativeControllerGain>0.0</derivativeControllerGain>
      <maxVelocity>0.0</maxVelocity>
    </plugin>
  </gazebo>
  <joint name="camera/z" type="revolute">
    <origin rpy="0 0 0" xyz="0.2 0 0.24"/>
    <parent link="base_link"/>
    <child link="cameraYawServo"/>
    <axis xyz="0 0 1"/>
    <limit effort="100" lower="-2.35619449019" upper="2.35619449019" velocity="100"/>
  </joint>
  <link name="cameraYawServo">
    <inertial>
      <mass value="0.1"/>
      <origin xyz="0 0 0"/>
      <inertia ixx="4.9e-05" ixy="0.0" ixz="0.0" iyy="4.9e-05" iyz="0.0" izz="4.9e-05"/>
    </inertial>
    <visual>
      <origin rpy="0 0 0" xyz="0.0 0.0 0.0425"/>
      <geometry>
        <box size="0.04 0.03 0.085"/>
      </geometry>
      <material name="Blue"/>
    </visual>
    <collision>
      <origin rpy="0 0 0" xyz="0.0 0.0 0.0425"/>
      <geometry>
        <box size="0.04 0.03 0.085"/>
      </geometry>
    </collision>
  </link>
  <joint name="camera/y" type="revolute">
    <origin rpy="0 0 0" xyz="0 0 0.085"/>
    <parent link="cameraYawServo"/>
    <child link="mounting_link"/>
    <axis xyz="0 1 0"/>
    <limit effort="100" lower="-1.57079632679" upper="1.57079632679" velocity="100"/>
  </joint>
  <link name="mounting_link">
    <inertial>
      <mass value="0.05"/>
      <origin xyz="0 0 0"/>
      <inertia ixx="2.45e-05" ixy="0.0" ixz="0.0" iyy="2.45e-05" iyz="0.0" izz="2.45e-05"/>
    </inertial>
  </link>
  <joint name="infrared_joint" type="fixed">
    <origin rpy="0 0 0" xyz="0.0505 0.046 -0.0025"/>
    <parent link="mounting_link"/>
    <child link="infrared_frame"/>
  </joint>
  <link name="infrared_frame">
    <inertial>
      <mass value="0.01"/>
      <origin xyz="0 0 0"/>
      <inertia ixx="4.9e-06" ixy="0.0" ixz="0.0" iyy="4.9e-06" iyz="0.0" izz="4.9e-06"/>
    </inertial>
    <visual>
      <origin rpy="0 0 0" xyz="0 0 0"/>
      <geometry>
        <mesh filename="package://centaur/meshes/thermaleye_camera_hector_v2.dae"/>
      </geometry>
    </visual>
    <collision>
      <origin rpy="0 0 0" xyz="0 0 0"/>
      <geometry>
        <mesh filename="package://centaur/meshes/thermaleye_camera_hector_v2.stl"/>
      </geometry>
    </collision>
  </link>
  <joint name="infrared_optical_joint" type="fixed">
    <origin rpy="-1.57079632679 0.0 -1.57079632679" xyz="0 0 0"/>
    <parent link="infrared_frame"/>
    <child link="infrared_optical_frame"/>
  </joint>
  <link name="infrared_optical_frame"/>
  <joint name="openni_joint" type="fixed">
    <origin rpy="0 0 0.0" xyz="0.055 0.0  0.055"/>
    <parent link="mounting_link"/>
    <child link="openni_link"/>
  </joint>
  <link name="openni_link">
    <inertial>
      <mass value="0.200"/>
      <origin rpy="0 0 0" xyz="0 0 0"/>
      <inertia ixx="5.8083e-4" ixy="0" ixz="0" iyy="3.0833e-5" iyz="0" izz="5.9083e-4"/>
    </inertial>
    <visual>
      <origin rpy="0 0 0" xyz="0 0 0"/>
      <geometry>
        <mesh filename="package://centaur/meshes/asus_camera_simple.dae"/>
      </geometry>
    </visual>
    <!--        
       <collision>
          <origin xyz="0 0 0" rpy="0 0 0" />
          <geometry>
            <box size="0.035 0.185 0.025"/>
          </geometry>
        </collision>
        -->
    <collision>
      <origin rpy="0 0 0" xyz="0 0 0"/>
      <geometry>
        <mesh filename="package://centaur/meshes/asus_camera_simple.dae"/>
      </geometry>
    </collision>
  </link>
  <joint name="openni_depth_joint" type="fixed">
    <origin rpy="0 0 0" xyz="0.0 0.049 0.0"/>
    <parent link="openni_link"/>
    <child link="openni_depth_frame"/>
  </joint>
  <link name="openni_depth_frame"/>
  <joint name="openni_depth_optical_joint" type="fixed">
    <origin rpy="-1.57079632679 0.0 -1.57079632679" xyz="0 0 0"/>
    <parent link="openni_depth_frame"/>
    <child link="openni_depth_optical_frame"/>
  </joint>
  <link name="openni_depth_optical_frame"/>
  <joint name="openni_rgb_joint" type="fixed">
    <origin rpy="0 0 0" xyz="0.0 0.022 0.0"/>
    <parent link="openni_link"/>
    <child link="openni_rgb_frame"/>
  </joint>
  <link name="openni_rgb_frame"/>
  <joint name="openni_rgb_optical_joint" type="fixed">
    <origin rpy="-1.57079632679 0.0 -1.57079632679" xyz="0 0 0"/>
    <parent link="openni_rgb_frame"/>
    <child link="openni_rgb_optical_frame"/>
  </joint>
  <link name="openni_rgb_optical_frame"/>
  <gazebo>
    <plugin filename="libhector_servo_plugin.so" name="camera_servo_controller">
      <alwaysOn>true</alwaysOn>
      <controlRate>50.0</controlRate>
      <updateRate>0.0</updateRate>
      <firstServoName>camera/z</firstServoName>
      <firstServoAxis>0 0 1</firstServoAxis>
      <secondServoName>camera/y</secondServoName>
      <secondServoAxis>0 1 0</secondServoAxis>
      <torque>0.5</torque>
      <robotNamespace>/</robotNamespace>
      <topicName>camera/command</topicName>
      <jointStateName>joint_states</jointStateName>
      <proportionalControllerGain>8.0</proportionalControllerGain>
      <derivativeControllerGain>0.0</derivativeControllerGain>
      <maxVelocity>2.0</maxVelocity>
    </plugin>
  </gazebo>
  <gazebo reference="openni_depth_frame">
    <sensor name="kinect_camera" type="depth">
      <update_rate>10</update_rate>
      <camera>
        <horizontal_fov>1.0471975512</horizontal_fov>
        <image>
          <format>R8G8B8</format>
          <width>320</width>
          <height>240</height>
        </image>
        <clip>
          <near>0.05</near>
          <far>3</far>
        </clip>
      </camera>
      <plugin filename="libgazebo_ros_openni_kinect.so" name="kinect_camera_controller">
        <alwaysOn>true</alwaysOn>
        <updateRate>10</updateRate>
        <imageTopicName>openni/rgb/image_color</imageTopicName>
        <cameraInfoTopicName>openni/camera_info</cameraInfoTopicName>
        <depthImageTopicName>openni/depth/image_raw</depthImageTopicName>
        <depthImageCameraInfoTopicName>openni/depth/camera_info</depthImageCameraInfoTopicName>
        <pointCloudTopicName>openni/depth/points</pointCloudTopicName>
        <frameName>openni_depth_optical_frame</frameName>
        <pointCloudCutoff>0.5</pointCloudCutoff>
        <distortionK1>0</distortionK1>
        <distortionK2>0</distortionK2>
        <distortionK3>0</distortionK3>
        <distortionT1>0</distortionT1>
        <distortionT2>0</distortionT2>
        <CxPrime>0</CxPrime>
        <Cx>0</Cx>
        <Cy>0</Cy>
        <focalLength>0</focalLength>
        <hackBaseline>0</hackBaseline>
      </plugin>
    </sensor>
  </gazebo>
  <gazebo reference="infrared_frame">
    <sensor name="thermal_camera_sensor" type="camera">
      <update_rate>10</update_rate>
      <camera>
        <horizontal_fov>1.57079632679</horizontal_fov>
        <image>
          <format>R8G8B8</format>
          <width>160</width>
          <height>120</height>
        </image>
        <clip>
          <near>0.01</near>
          <far>100</far>
        </clip>
      </camera>
      <plugin filename="libgazebo_ros_thermal_camera.so" name="thermal_camera_controller">
        <alwaysOn>true</alwaysOn>
        <updateRate>10</updateRate>
        <imageTopicName>/thermal/image</imageTopicName>
        <cameraInfoTopicName>/thermal/camera_info</cameraInfoTopicName>
        <frameName>infrared_optical_frame</frameName>
      </plugin>
    </sensor>
  </gazebo>
</robot>
